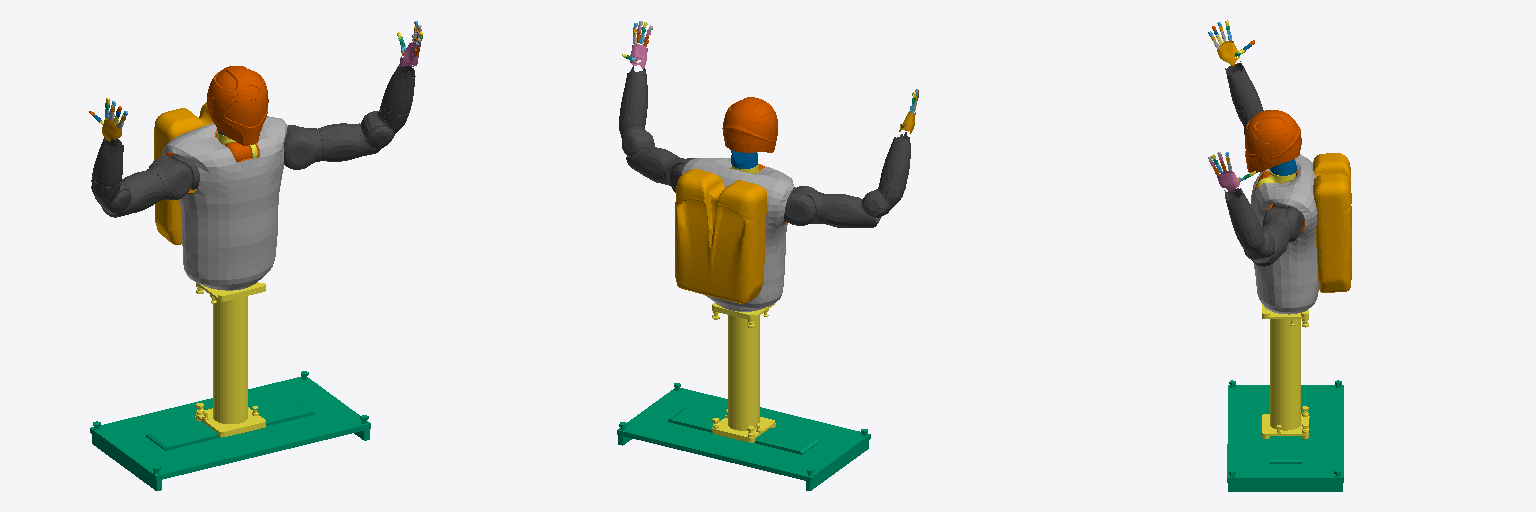
--- What the picture shows (computed from the rendered views, not written in the file) ---
Views: 3 orthographic renders of the robot side by side, from view 1: azimuth 30°, elevation 25°; view 2: azimuth 150°, elevation 25°; view 3: azimuth 270°, elevation 25°.
Robot: r2 — 91 links, 90 joints (54 revolute, 36 fixed); root link world; default pose: all joints at 0 but 4 set to mid-range because 0 is outside their limits (r2/left_arm/joint2 = -2.84, r2/left_arm/joint3 = -1.44, r2/right_arm/joint2 = 2.84, r2/right_arm/joint3 = -1.44).
Links seen in each view (by area): view 1: r2/baseplate, r2/body_cover, r2/stanchion, r2/neck_roll, r2/backpack, r2/left_upper_arm, r2/right_upper_arm, r2/left_lower_arm, r2/left_shoulder_pitch, r2/right_lower_arm, r2/right_shoulder_pitch, r2/left_elbow; view 2: r2/baseplate, r2/backpack, r2/stanchion, r2/body_cover, r2/neck_roll, r2/right_upper_arm, r2/left_lower_arm, r2/right_lower_arm, r2/left_upper_arm, r2/right_elbow, r2/right_shoulder_roll, r2/left_elbow; view 3: r2/baseplate, r2/body_cover, r2/backpack, r2/stanchion, r2/neck_roll, r2/right_lower_arm, r2/left_lower_arm, r2/left_upper_arm, r2/left_elbow.
Boxes of the visible links, x1,y1,x2,y2 form: r2/baseplate: (90,371,370,490); r2/body_cover: (162,116,287,290); r2/stanchion: (195,282,265,437); r2/neck_roll: (207,66,268,145); r2/backpack: (154,102,213,244); r2/left_upper_arm: (318,123,393,161); r2/right_upper_arm: (101,170,163,217); r2/left_lower_arm: (380,64,415,120); r2/left_shoulder_pitch: (284,127,321,169); r2/right_lower_arm: (91,137,123,192); r2/right_shoulder_pitch: (147,158,192,200); r2/left_elbow: (361,110,406,137); r2/baseplate: (617,383,870,490); r2/backpack: (675,169,766,303); r2/stanchion: (712,303,775,442); r2/body_cover: (682,158,793,311); r2/neck_roll: (722,97,777,152); r2/right_upper_arm: (820,194,880,227); r2/left_lower_arm: (619,67,647,123); r2/right_lower_arm: (879,132,910,189); r2/left_upper_arm: (626,145,677,184); r2/right_elbow: (862,184,904,217); r2/right_shoulder_roll: (783,187,816,225); r2/left_elbow: (619,120,654,155); r2/baseplate: (1227,380,1343,491); r2/body_cover: (1251,154,1318,314); r2/backpack: (1313,153,1351,292); r2/stanchion: (1262,304,1309,438); r2/neck_roll: (1245,110,1301,172); r2/right_lower_arm: (1225,61,1262,117); r2/left_lower_arm: (1224,188,1261,240); r2/left_upper_arm: (1244,221,1289,266); r2/left_elbow: (1239,230,1274,259).
Size in the robot's own frame: 1.55 by 0.695 by 1.91 metres.
Meshes: 28 distinct files referenced, 52 mesh visuals loaded (28 Collada DAE).

robot.urdf — r2:
<?xml version="1.0" ?>
<!-- =================================================================================== -->
<!-- |    This document was autogenerated by xacro from ../robots/r2.sim.urdf.xacro    | -->
<!-- |    EDITING THIS FILE BY HAND IS NOT RECOMMENDED                                 | -->
<!-- =================================================================================== -->
<robot name="r2" xmlns:controller="http://playerstage.sourceforge.net/gazebo/xmlschema/#controller" xmlns:interface="http://playerstage.sourceforge.net/gazebo/xmlschema/#interface" xmlns:sensor="http://playerstage.sourceforge.net/gazebo/xmlschema/#sensor" xmlns:xacro="http://playerstage.sourceforge.net/gazebo/xmlschema/#interface">
  <material name="white">
    <color rgba="1.0 1.0 1.0 1.0"/>
  </material>
  <material name="dirty_white">
    <color rgba="0.322 0.322 0.322 1.0"/>
  </material>
  <material name="gold">
    <color rgba=".878 .49 0.008 1"/>
  </material>
  <material name="steel">
    <color rgba=".7 .7 .7 1"/>
  </material>
  <material name="blue">
    <color rgba="0 0 0.8 1"/>
  </material>
  <link name="world"/>
  <joint name="r2/fixed/world/robot_world" type="fixed">
    <parent link="world"/>
    <child link="r2/robot_world"/>
    <origin rpy="0.0 0 0" xyz="0.0 0.0 0.0"/>
  </joint>
  <link name="r2/robot_world">
    <inertial>
      <mass value="1"/>
      <inertia ixx="1" ixy="0.0" ixz="0.0" iyy="1" iyz="0.0" izz="1"/>
    </inertial>
  </link>
  <joint name="r2/fixed/robot_world/baseplate" type="fixed">
    <parent link="r2/robot_world"/>
    <child link="r2/baseplate"/>
    <origin rpy="0.0 0 1.57" xyz="0.0 0.0 0.0"/>
  </joint>
  <link name="r2/baseplate">
    <visual>
      <geometry>
        <mesh filename="package://r2_description/meshes/Stanchion_Baseplate.dae"/>
      </geometry>
      <origin rpy="1.57 0 1.57" xyz="0.0 0.0 0.0"/>
    </visual>
    <collision>
      <geometry>
        <mesh filename="package://r2_description/meshes/Stanchion_Baseplate.dae" scale=".01 .01 .01"/>
      </geometry>
      <origin rpy="1.57 0 1.57" xyz="0.0 0.0 0.0"/>
    </collision>
    <inertial>
      <mass value="5"/>
      <inertia ixx="1" ixy="0.0" ixz="0.0" iyy="1" iyz="0.0" izz="1"/>
    </inertial>
  </link>
  <joint name="r2/fixed/baseplate/stanchion" type="fixed">
    <parent link="r2/baseplate"/>
    <child link="r2/stanchion"/>
    <origin rpy="0 0 3.14" xyz="0.0 0.0 .70"/>
  </joint>
  <link name="r2/stanchion">
    <visual>
      <geometry>
        <mesh filename="package://r2_description/meshes/Stanchion.dae"/>
      </geometry>
      <origin rpy="0 0 0" xyz="0.0 0.0 0.0"/>
    </visual>
    <collision>
      <geometry>
        <!--        <mesh filename="package://r2_description/meshes/Stanchion.dae"/> -->
        <cylinder length="0.5" radius=".075"/>
      </geometry>
      <origin rpy="0 0 0" xyz="0.0 0.0 -0.3"/>
    </collision>
    <inertial>
      <mass value="50"/>
      <inertia ixx="10" ixy="0.0" ixz="0.0" iyy="10" iyz="0.0" izz="10"/>
    </inertial>
  </link>
  <joint name="r2/fixed/stanchion/robot_base" type="fixed">
    <parent link="r2/stanchion"/>
    <child link="r2/robot_base"/>
    <origin rpy="0 3.14 3.14" xyz="0.0 0.0 0.02"/>
  </joint>
  <link name="r2/robot_base">
    <inertial>
      <mass value="0.01"/>
      <inertia ixx="0.0001" ixy="0.0" ixz="0.0" iyy="0.001" iyz="0.0" izz="0.001"/>
    </inertial>
  </link>
  <joint name="r2/waist/joint0" type="revolute">
    <parent link="r2/robot_base"/>
    <child link="r2/waist_center"/>
    <axis xyz="0 0 1"/>
    <origin rpy="0.0 0 0.0" xyz="0.0 0.0 0.0"/>
    <dynamics damping="20.0" friction="1.0"/>
    <limit effort="10000000.0" lower="-3.14" upper="3.14" velocity="1000"/>
  </joint>
  <link name="r2/waist_center">
    <visual>
      <geometry>
        <mesh filename="package://r2_description/meshes/Body.dae"/>
      </geometry>
      <origin rpy="-1.57 0 -1.57" xyz="0.01 0.05 -0.5625"/>
    </visual>
    <!-- <collision>
      <geometry>
         <mesh filename="package://r2_description/meshes/Body.dae"/>  
      </geometry>
      <origin rpy="-1.57 0 -1.57" xyz="0.00 0.05 -0.5625"/>
    </collision> -->
    <inertial>
      <mass value="10"/>
      <inertia ixx="1" ixy="0.0" ixz="0.0" iyy="1" iyz="0.0" izz="1"/>
    </inertial>
  </link>
  <joint name="r2/fixed/waist_center/robot_reference" type="fixed">
    <parent link="r2/waist_center"/>
    <child link="r2/robot_reference"/>
    <origin rpy="0.0 0 0.0" xyz="0.1234 0.0 0.0"/>
  </joint>
  <joint name="r2/fixed/waist_center/body_cover" type="fixed">
    <parent link="r2/waist_center"/>
    <child link="r2/body_cover"/>
    <origin rpy="0.0 0.0 0.0" xyz="0 0.0 0.0"/>
  </joint>
  <joint name="r2/fixed/waist_center/backpack" type="fixed">
    <parent link="r2/waist_center"/>
    <child link="r2/backpack"/>
    <origin rpy="0.0 0.0 0.0" xyz="0 0.0 0.0"/>
  </joint>
  <joint name="r2/fixed/waist_center/chest_center" type="fixed">
    <parent link="r2/waist_center"/>
    <child link="r2/chest_center"/>
    <origin rpy="0.0 0.0 0.0" xyz="-0.01235 0.0 0.0"/>
  </joint>
  <link name="r2/robot_reference">
    <inertial>
      <mass value="0.01"/>
      <inertia ixx="0.0001" ixy="0.0" ixz="0.0" iyy="0.001" iyz="0.0" izz="0.001"/>
    </inertial>
  </link>
  <link name="r2/body_cover">
    <visual>
      <geometry>
        <mesh filename="package://r2_description/meshes/Body_Cover.dae"/>
      </geometry>
      <!--       <origin rpy="-1.57 0 -1.57" xyz="0.02 0.05 -0.5625"/>
 -->
      <origin rpy="-1.57 0 -1.57" xyz="0.01 0.05 -0.5625"/>
    </visual>
    <collision>
      <geometry>
        <mesh filename="package://r2_description/meshes/Body_Cover.dae"/>
      </geometry>
      <origin rpy="-1.57 0 -1.57" xyz="0.01 0.05 -0.5625"/>
    </collision>
    <inertial>
      <mass value="0.1"/>
      <inertia ixx="0.001" ixy="0.0" ixz="0.0" iyy="0.001" iyz="0.0" izz="0.001"/>
    </inertial>
  </link>
  <link name="r2/backpack">
    <visual>
      <geometry>
        <mesh filename="package://r2_description/meshes/Backpack.dae"/>
      </geometry>
      <origin rpy="0 0 0.25" xyz="0.0 0.0 -0.54"/>
    </visual>
    <collision>
      <geometry>
        <mesh filename="package://r2_description/meshes/Backpack.dae"/>
      </geometry>
      <origin rpy="0 0 0.25" xyz="0.0 0.0 -0.54"/>
    </collision>
    <inertial>
      <mass value="10"/>
      <inertia ixx="1" ixy="0.0" ixz="0.0" iyy="1" iyz="0.0" izz="1"/>
    </inertial>
  </link>
  <link name="r2/chest_center">
    <inertial>
      <mass value="0.01"/>
      <inertia ixx="0.0001" ixy="0.0" ixz="0.0" iyy="0.001" iyz="0.0" izz="0.001"/>
    </inertial>
  </link>
  <joint name="r2/fixed/chest_center/chest_base" type="fixed">
    <parent link="r2/chest_center"/>
    <child link="r2/chest_base"/>
    <origin rpy="0.0 -0.0 0.0 " xyz="-0.05299202 -0.0 -0.5442458"/>
  </joint>
  <link name="r2/chest_base">
    <inertial>
      <mass value="0.01"/>
      <inertia ixx="0.0001" ixy="0.0" ixz="0.0" iyy="0.001" iyz="0.0" izz="0.001"/>
    </inertial>
  </link>
  <joint name="r2/neck/joint0" type="revolute">
    <parent link="r2/waist_center"/>
    <child link="r2/neck_base"/>
    <origin rpy=" -1.570796 -0.0 0.0 " xyz=" 0.08636 0.0 -0.6142228 "/>
    <dynamics damping="1.0" friction="0.0"/>
    <axis xyz="0 0 1"/>
    <limit effort="10000.0" lower="-0.7" upper="0.175" velocity="1000.0"/>
  </joint>
  <link name="r2/neck_base">
    <visual>
      <geometry>
        <mesh filename="package://r2_description/meshes/Neck_Lower.dae"/>
      </geometry>
      <origin rpy="-1.57 1.57 0" xyz="0.0 0.0 0.0"/>
    </visual>
    <inertial>
      <mass value=".1"/>
      <inertia ixx=".0010" ixy="0.0" ixz="0.0" iyy=".0010" iyz="0.0" izz=".0010"/>
    </inertial>
    <collision>
      <geometry>
        <mesh filename="package://r2_description/meshes/Neck_Lower.dae"/>
      </geometry>
      <origin rpy="-1.57 1.57 0" xyz="0.0 0.0 0.0"/>
    </collision>
  </link>
  <joint name="r2/neck/joint1" type="revolute">
    <parent link="r2/neck_base"/>
    <child link="r2/neck_lower_pitch"/>
    <origin rpy=" -1.570796 -0.0 0.0 " xyz=" -0.0762 -0.0 0.0 "/>
    <dynamics damping="1.0" friction="0.0"/>
    <axis xyz="0 0 1"/>
    <limit effort="10000.0" lower="-1.22" upper="1.22" velocity="1000.0"/>
  </joint>
  <link name="r2/neck_lower_pitch">
    <visual>
      <geometry>
        <mesh filename="package://r2_description/meshes/Neck_Upper.dae"/>
      </geometry>
      <origin rpy="0 0 1.57" xyz="0.075 0.0 0.0"/>
    </visual>
    <inertial>
      <mass value=".1"/>
      <inertia ixx=".0010" ixy="0.0" ixz="0.0" iyy=".0010" iyz="0.0" izz=".0010"/>
    </inertial>
    <collision>
      <geometry>
        <mesh filename="package://r2_description/meshes/Neck_Upper.dae"/>
      </geometry>
      <origin rpy="0 0 1.57" xyz="0.075 0.0 0.0"/>
    </collision>
  </link>
  <joint name="r2/neck/joint2" type="revolute">
    <parent link="r2/neck_lower_pitch"/>
    <child link="r2/neck_roll"/>
    <origin rpy=" 1.570796 -0.0 0.0 " xyz=" 0.0508 0.0 0.1777619 "/>
    <dynamics damping="1.0" friction="0.0"/>
    <axis xyz="0 0 1"/>
    <limit effort="10000.0" lower="-0.7" upper="0.175" velocity="1000.0"/>
  </joint>
  <link name="r2/neck_roll">
    <visual>
      <geometry>
        <mesh filename="package://r2_description/meshes/Head.dae"/>
      </geometry>
      <origin rpy="0 1.57 0" xyz="-0.0 0.07 0.0"/>
    </visual>
    <collision>
      <geometry>
        <mesh filename="package://r2_description/meshes/Head.dae"/>
      </geometry>
      <origin rpy="0 1.57 0" xyz="-0.0 0.07 0.0"/>
    </collision>
    <inertial>
      <mass value=".1"/>
      <inertia ixx=".0010" ixy="0.0" ixz="0.0" iyy=".0010" iyz="0.0" izz=".0010"/>
    </inertial>
  </link>
  <joint name="r2/fixed/neck_roll/neck_upper_pitch" type="fixed">
    <parent link="r2/neck_roll"/>
    <child link="r2/neck_upper_pitch"/>
    <origin rpy=" 1.570796 -0.0 0.0 " xyz=" 0.0 0.0 0.0 "/>
  </joint>
  <link name="r2/neck_upper_pitch">
    <inertial>
      <mass value=".1"/>
      <inertia ixx=".0010" ixy="0.0" ixz="0.0" iyy=".0010" iyz="0.0" izz=".0010"/>
    </inertial>
  </link>
  <joint name="r2/fixed/neck_upper_pitch/asus_frame" type="fixed">
    <parent link="r2/neck_upper_pitch"/>
    <child link="r2/asus_frame"/>
    <origin rpy="1.50 0.0 1.57 " xyz="0.12 -0.015 -0.14 "/>
    <!-- OK    <origin rpy="1.45 0 1.57 " xyz="0.11 -0.040 -0.15 "/>  -->
    <!-- ORIGINAL     <origin rpy="1.57 0 1.57 " xyz="0.066675 -0.0508 -0.116205 "/>  -->
  </joint>
  <joint name="r2/fixed/neck_upper_pitch/simulated_asus_frame" type="fixed">
    <parent link="r2/neck_upper_pitch"/>
    <child link="r2/simulated_asus_frame"/>
    <dynamics damping="1.0"/>
    <origin rpy="1.57 0 0" xyz="0.12 -0.015 -0.14 "/>
    <!--     <origin rpy="0 0 0" xyz="0.12 -0.015 -0.14 "/> -->
  </joint>
  <joint name="r2/fixed/neck_upper_pitch/vision_center_frame" type="fixed">
    <parent link="r2/neck_upper_pitch"/>
    <child link="r2/vision_center_frame"/>
    <dynamics damping="1.0"/>
    <origin rpy="1.57 -1.57 1.57" xyz=" 0.066675 0.0 -0.116205 "/>
  </joint>
  <link name="r2/asus_frame">
    <inertial>
      <mass value=".01"/>
      <inertia ixx=".0010" ixy="0.0" ixz="0.0" iyy=".0010" iyz="0.0" izz=".0010"/>
    </inertial>
  </link>
  <joint name="r2/fixed/asus_frame/openni_depth_frame" type="fixed">
    <parent link="r2/asus_frame"/>
    <child link="r2/openni_depth_frame"/>
    <origin rpy="1.57 -1.57 0 " xyz="0 0 0 "/>
  </joint>
  <link name="r2/openni_depth_frame">
    <inertial>
      <mass value=".01"/>
      <inertia ixx=".0010" ixy="0.0" ixz="0.0" iyy=".0010" iyz="0.0" izz=".0010"/>
    </inertial>
  </link>
  <link name="r2/simulated_asus_frame">
    <inertial>
      <mass value=".01"/>
      <inertia ixx=".0010" ixy="0.0" ixz="0.0" iyy=".0010" iyz="0.0" izz=".0010"/>
    </inertial>
  </link>
  <link name="r2/vision_center_frame">
    <inertial>
      <mass value=".1"/>
      <inertia ixx=".0010" ixy="0.0" ixz="0.0" iyy=".0010" iyz="0.0" izz=".0010"/>
    </inertial>
  </link>
  <joint name="r2/fixed/vision_center_frame/left_camera_frame" type="fixed">
    <parent link="r2/vision_center_frame"/>
    <child link="r2/left_camera_frame"/>
    <dynamics damping="1.0"/>
    <origin rpy="0 0 1.57" xyz="0.0087 0.04887 0.01789"/>
  </joint>
  <joint name="r2/fixed/vision_center_frame/right_camera_frame" type="fixed">
    <parent link="r2/vision_center_frame"/>
    <child link="r2/right_camera_frame"/>
    <dynamics damping="1.0"/>
    <origin rpy="0 0 1.57" xyz="0.0087 -0.04887 0.01789"/>
  </joint>
  <link name="r2/left_camera_frame">
    <inertial>
      <mass value=".1"/>
      <inertia ixx=".0010" ixy="0.0" ixz="0.0" iyy=".0010" iyz="0.0" izz=".0010"/>
    </inertial>
  </link>
  <joint name="r2/fixed/left_camera_frame/left_camera_optical_frame" type="fixed">
    <parent link="r2/left_camera_frame"/>
    <child link="r2/left_camera_optical_frame"/>
    <dynamics damping="1.0"/>
    <origin rpy="-1.57 -1.57 0" xyz="0 0 0"/>
  </joint>
  <link name="r2/left_camera_optical_frame">
    <inertial>
      <mass value=".1"/>
      <inertia ixx=".0010" ixy="0.0" ixz="0.0" iyy=".0010" iyz="0.0" izz=".0010"/>
    </inertial>
  </link>
  <link name="r2/right_camera_frame">
    <inertial>
      <mass value=".1"/>
      <inertia ixx=".0010" ixy="0.0" ixz="0.0" iyy=".0010" iyz="0.0" izz=".0010"/>
    </inertial>
  </link>
  <joint name="r2/fixed/right_camera_frame/right_camera_optical_frame" type="fixed">
    <parent link="r2/right_camera_frame"/>
    <child link="r2/right_camera_optical_frame"/>
    <dynamics damping="1.0"/>
    <origin rpy="-1.57 -1.57 0" xyz="0 0 0"/>
  </joint>
  <link name="r2/right_camera_optical_frame">
    <inertial>
      <mass value=".1"/>
      <inertia ixx=".0010" ixy="0.0" ixz="0.0" iyy=".0010" iyz="0.0" izz=".0010"/>
    </inertial>
  </link>
  <joint name="r2/left_arm/joint0" type="revolute">
    <parent link="r2/chest_base"/>
    <child link="r2/left_shoulder_roll"/>
    <origin rpy=" -1.5664 -0.0 -2.8802 " xyz=" -0.0 -0.0 0.0 "/>
    <axis xyz="0 0 1"/>
    <dynamics damping="10.0" friction="0.0"/>
    <limit effort="100.0" lower="-1.57" upper="1.57" velocity="1000"/>
  </joint>
  <link name="r2/left_shoulder_roll">
    <visual>
      <geometry>
        <mesh filename="package://r2_description/meshes/Left_Shoulder_Upper.dae"/>
      </geometry>
      <material name="dirty_white"/>
      <origin rpy="0 0 1.57" xyz="0 0 .08"/>
    </visual>
    <!-- <collision>
      <geometry>
        <mesh filename="package://r2_description/meshes/Left_Shoulder_Upper.dae" scale="0.7 0.7 0.7"/>
      </geometry>
      <origin rpy="0 0 1.57" xyz="0 0 .08"/>
    </collision> -->
    <inertial>
      <origin xyz="-0.0089916 -0.00131572   0.10287   "/>
      <mass value="6.168856232"/>
      <inertia ixx="0.0198585269" ixy="-0.0060195977" ixz="-0.0003950635" iyy="0.0671900643" iyz="0.00012683" izz="0.0634150128"/>
    </inertial>
  </link>
  <joint name="r2/left_arm/joint1" type="revolute">
    <parent link="r2/left_shoulder_roll"/>
    <child link="r2/left_shoulder_pitch"/>
    <origin rpy=" -1.5701 -0.0 1.570796 " xyz=" 0.0 0.0 0.316611 "/>
    <axis xyz="0 0 1"/>
    <dynamics damping="10.0" friction="0.0"/>
    <limit effort="100.0" lower="-1.66" upper=".175" velocity="1000"/>
  </joint>
  <link name="r2/left_shoulder_pitch">
    <visual>
      <geometry>
        <mesh filename="package://r2_description/meshes/Left_Shoulder_Lower.dae"/>
      </geometry>
      <material name="dirty_white"/>
      <origin rpy=".0 0 -1.57" xyz="0 0 0"/>
    </visual>
    <!-- <collision>
      <geometry>
        <mesh filename="package://r2_description/meshes/Left_Shoulder_Lower.dae"/>
      </geometry>
      <origin rpy=".0 0 -1.57" xyz="0 0 0"/>
    </collision> -->
    <inertial>
      <origin xyz="0.037084 -0.00028448   0.0077978   "/>
      <mass value="4.4270615312"/>
      <inertia ixx="0.02701064" ixy="0.001512947" ixz="-0.000052382497887" iyy="0.0113836825" iyz="0.0000217138622526" izz="0.0251962741"/>
    </inertial>
  </link>
  <joint name="r2/left_arm/joint2" type="revolute">
    <parent link="r2/left_shoulder_pitch"/>
    <child link="r2/left_upper_arm"/>
    <origin rpy=" 1.57 -0.0 0.0 " xyz=" 0.0 0.0 0.0 "/>
    <axis xyz="0 0 1"/>
    <dynamics damping="10.0" friction="0.0"/>
    <limit effort="100.0" lower="-4.89" upper="-0.79" velocity="1000"/>
  </joint>
  <link name="r2/left_upper_arm">
    <visual>
      <geometry>
        <mesh filename="package://r2_description/meshes/Left_Upper_Arm.dae"/>
      </geometry>
      <material name="dirty_white"/>
      <origin rpy="0 0 3.14" xyz="0 0 .1016"/>
    </visual>
    <collision>
      <geometry>
        <mesh filename="package://r2_description/meshes/Left_Upper_Arm.dae" scale="0.8 0.8 0.8"/>
      </geometry>
      <origin rpy="0 0 3.14" xyz="0 0 .1016"/>
    </collision>
    <inertial>
      <origin xyz="-0.0074168 -0.041402   0.1016   "/>
      <mass value="4.853438359"/>
      <inertia ixx="0.016007389" ixy="-0.00339462" ixz="0.0065843922" iyy="0.0462370652" iyz="0.0013754064" izz="0.04214011"/>
    </inertial>
  </link>
  <joint name="r2/left_arm/joint3" type="revolute">
    <parent link="r2/left_upper_arm"/>
    <child link="r2/left_elbow"/>
    <origin rpy=" -1.5748 -0.0 0.0 " xyz=" -0.05437886 -0.0 0.3564382 "/>
    <axis xyz="0 0 1"/>
    <dynamics damping="1.0" friction="0.0"/>
    <limit effort="100.0" lower="-2.79" upper="-.087" velocity="1000"/>
  </joint>
  <link name="r2/left_elbow">
    <visual>
      <geometry>
        <mesh filename="package://r2_description/meshes/Left_Elbow.dae"/>
      </geometry>
      <material name="dirty_white"/>
      <origin rpy="0 0 -1.57" xyz="0 0 0"/>
    </visual>
    <collision>
      <geometry>
        <mesh filename="package://r2_description/meshes/Left_Elbow.dae"/>
      </geometry>
      <origin rpy="0 0 -1.57" xyz="0 0 0"/>
    </collision>
    <inertial>
      <origin xyz="0.026162 0.033782   0.0154432   "/>
      <mass value="2.9710300235"/>
      <inertia ixx="0.0120274897" ixy="0.0016417085" ixz="-0.001188117" iyy="0.0088377175" iyz="0.0031605083" izz="0.0105350275"/>
    </inertial>
  </link>
  <joint name="r2/left_arm/joint4" type="revolute">
    <parent link="r2/left_elbow"/>
    <child link="r2/left_lower_arm"/>
    <origin rpy=" 1.5738 -0.0 0.0 " xyz=" 0.0540385 0.0 0.0 "/>
    <axis xyz="0 0 1"/>
    <dynamics damping="1.0" friction="0.0"/>
    <limit effort="100.0" lower="-1.3" upper="4.45" velocity="1000"/>
  </joint>
  <link name="r2/left_lower_arm">
    <visual>
      <geometry>
        <mesh filename="package://r2_description/meshes/Left_Forearm.dae"/>
      </geometry>
      <origin xyz="0 0 0.1"/>
      <material name="dirty_white"/>
    </visual>
    <collision>
      <geometry>
        <mesh filename="package://r2_description/meshes/Left_Forearm.dae"/>
      </geometry>
      <origin xyz="0 0 0.1"/>
    </collision>
    <inertial>
      <origin xyz="0.0003556 -0.00122682   0.17653   "/>
      <mass value="6.939963261"/>
      <inertia ixx="0.0125249771" ixy="-0.0002446467" ixz="0.0005208986" iyy="0.0395063532" iyz="-0.0001691457" izz="0.0403842721"/>
    </inertial>
  </link>
  <joint name="r2/left_arm/joint5" type="revolute">
    <parent link="r2/left_lower_arm"/>
    <child link="r2/left_wrist_pitch"/>
    <origin rpy=" -1.5952 -0.0 0.0 " xyz=" 0.0 0.0 0.3570478 "/>
    <axis xyz="0 0 1"/>
    <dynamics damping="1.0" friction="0.0"/>
    <limit effort="100.0" lower="-1.22" upper="1.22" velocity="1000"/>
  </joint>
  <link name="r2/left_wrist_pitch">
    <inertial>
      <origin xyz="-0.004064   0.000000152908   -0.00092202"/>
      <mass value="0.1165732391"/>
      <inertia ixx="0.1" ixy="0.0" ixz="0.0" iyy="0.1" iyz="0.0" izz="0.1"/>
    </inertial>
  </link>
  <joint name="r2/left_arm/joint6" type="revolute">
    <parent link="r2/left_wrist_pitch"/>
    <child link="r2/left_wrist_yaw"/>
    <origin rpy=" 1.6505 -0.0 -1.5727 " xyz=" -0.00001156 -0.006072621 0.0 "/>
    <axis xyz="0 0 1"/>
    <dynamics damping="1.0" friction="0.0"/>
    <limit effort="100.0" lower="-0.785" upper="0.785" velocity="1000"/>
  </joint>
  <link name="r2/left_wrist_yaw">
    <inertial>
      <origin xyz="-0.00090932   -0.0253746  0.067564     "/>
      <mass value="0.1"/>
      <inertia ixx="0.1" ixy="0.0" ixz="0.0" iyy="0.1" iyz="0.0" izz="0.1"/>
    </inertial>
  </link>
  <joint name="r2/fixed/left_wrist_yaw/left_palm" type="fixed">
    <parent link="r2/left_wrist_yaw"/>
    <child link="r2/left_palm"/>
    <origin rpy=" 0.0 -0.0 -0.014 " xyz=" 0.0 -0.0 0.0 "/>
  </joint>
  <link name="r2/left_palm">
    <visual>
      <geometry>
        <mesh filename="package://r2_description/meshes/Left_Palm.dae"/>
      </geometry>
      <origin rpy="3.14 0 1.57" xyz="0.0 0.0 -0.0"/>
    </visual>
    <collision>
      <geometry>
        <mesh filename="package://r2_description/meshes/Left_Palm.dae"/>
      </geometry>
      <origin rpy="3.14 0 1.57" xyz="0.0 0.0 -0.0"/>
    </collision>
    <inertial>
      <origin xyz="0.067564   -0.0253746   -0.00090932"/>
      <mass value="1.1"/>
      <inertia ixx="0.1" ixy="0.0" ixz="0.0" iyy="0.1" iyz="0.0" izz="0.1"/>
    </inertial>
  </link>
  <joint name="r2/left_arm/hand/thumb/joint0" type="revolute">
    <parent link="r2/left_wrist_yaw"/>
    <child link="r2/left_thumb_base"/>
    <origin rpy=" -1.57079632679 -0.0 1.30899702752 " xyz=" 0.03302 0.03048 0.00635 "/>
    <axis xyz="0 0 1"/>
    <limit effort="10000000.0" lower="-1.2217" upper="0.0" velocity="1000"/>
    <dynamics damping="0.1" friction="0.0"/>
  </joint>
  <joint name="r2/fixed/left_index_base/left_index_base" type="fixed">
    <parent link="r2/left_wrist_yaw"/>
    <child link="r2/left_index_base"/>
    <origin rpy=" 0.0 -0.0 0.122172725275 " xyz=" 0.0994646728 0.0271119346 -0.0161544 "/>
  </joint>
  <joint name="r2/left_arm/hand/index/joint0" type="revolute">
    <parent link="r2/left_index_base"/>
    <child link="r2/left_index_yaw"/>
    <origin rpy="0.0 0.0 0.0" xyz="0.0 0.0 0.0"/>
    <axis xyz="0 0 1"/>
    <limit effort="10000000.0" lower="-0.3491" upper="0.3491" velocity="1000"/>
    <dynamics damping="0.1" friction="0.0"/>
  </joint>
  <joint name="r2/fixed/left_middle_base/left_middle_base" type="fixed">
    <parent link="r2/left_wrist_yaw"/>
    <child link="r2/left_middle_base"/>
    <origin rpy=" 0.0 -0.0 0.0 " xyz=" 0.10646537 0.00254 -0.0161544 "/>
  </joint>
  <joint name="r2/left_arm/hand/middle/joint0" type="revolute">
    <parent link="r2/left_middle_base"/>
    <child link="r2/left_middle_yaw"/>
    <origin rpy="0.0 0.0 0.0" xyz="0.0 0.0 0.0"/>
    <axis xyz="0 0 1"/>
    <limit effort="10000000.0" lower="-0.3491" upper="0.3491" velocity="1000"/>
    <dynamics damping="0.1" friction="0.0"/>
  </joint>
  <joint name="r2/left_arm/hand/ring/joint0" type="revolute">
    <parent link="r2/left_wrist_yaw"/>
    <child link="r2/left_ring_proximal"/>
    <origin rpy=" 1.57079632679 -0.0 -0.122172725275 " xyz=" 0.1084570602 -0.0197673468 -0.012319 "/>
    <axis xyz="0 0 1"/>
    <limit effort="10000000.0" lower="0" upper="2.9671" velocity="1000"/>
    <dynamics damping="0.1" friction="0.0"/>
  </joint>
  <joint name="r2/left_arm/hand/little/joint0" type="revolute">
    <parent link="r2/left_wrist_yaw"/>
    <child link="r2/left_little_proximal"/>
    <origin rpy=" 1.60570321374 -0.0872667473393 -0.17453258148 " xyz=" 0.094635701 -0.0403792436 -0.0060878212 "/>
    <axis xyz="0 0 1"/>
    <limit effort="10000000.0" lower="0" upper="2.9671" velocity="1000"/>
    <dynamics damping="0.1" friction="0.0"/>
  </joint>
  <link name="r2/left_thumb_base">
    <inertial>
      <mass value=".05"/>
      <inertia ixx=".0010" ixy="0.0" ixz="0.0" iyy=".0010" iyz="0.0" izz=".0010"/>
    </inertial>
  </link>
  <joint name="r2/fixed/left_thumb_base/left_thumb_proximal" type="fixed">
    <parent link="r2/left_thumb_base"/>
    <child link="r2/left_thumb_proximal"/>
    <origin rpy=" -1.570796 -0.0 0.0 " xyz=" 0.011938 0.0 0.0 "/>
  </joint>
  <link name="r2/left_thumb_proximal">
    <inertial>
      <mass value=".0010"/>
      <inertia ixx=".0010" ixy="0.0" ixz="0.0" iyy=".0010" iyz="0.0" izz=".0010"/>
    </inertial>
    <visual>
      <geometry>
        <mesh filename="package://r2_description/meshes/Left_Thumb_Carp.dae"/>
      </geometry>
      <origin rpy="-1.57 0 0" xyz="-0.01 0.0 0.0"/>
    </visual>
    <collision>
      <geometry>
        <mesh filename="package://r2_description/meshes/Left_Thumb_Carp.dae"/>
      </geometry>
      <origin rpy="-1.57 0 0" xyz="-0.01 0.0 0.0"/>
    </collision>
  </link>
  <joint name="r2/left_arm/hand/thumb/joint1" type="revolute">
    <parent link="r2/left_thumb_proximal"/>
    <child link="r2/left_thumb_medial_prime"/>
    <origin rpy=" 0.0 -0.0 0.0 " xyz=" 0.0 0.0 0.0 "/>
    <axis xyz="0 0 1"/>
    <limit effort="10000000.0" lower="0.0" upper="1.3963" velocity="1000"/>
    <dynamics damping="0.1" friction="0.0"/>
  </joint>
  <link name="r2/left_thumb_medial_prime">
    <inertial>
      <mass value=".0010"/>
      <inertia ixx=".0010" ixy="0.0" ixz="0.0" iyy=".0010" iyz="0.0" izz=".0010"/>
    </inertial>
    <visual>
      <geometry>
        <mesh filename="package://r2_description/meshes/Left_Thumb_MtCar.dae"/>
      </geometry>
      <origin rpy="-1.57 -1.57 0" xyz="-0.0 0 0.0"/>
    </visual>
    <collision>
      <geometry>
        <mesh filename="package://r2_description/meshes/Left_Thumb_MtCar.dae"/>
      </geometry>
      <origin rpy="-1.57 -1.57 0" xyz="0.0 0.0 0.0"/>
    </collision>
  </link>
  <joint name="r2/left_arm/hand/thumb/joint2" type="revolute">
    <parent link="r2/left_thumb_medial_prime"/>
    <child link="r2/left_thumb_medial"/>
    <origin rpy=" -0.698132284627 -0.0 0.0 " xyz=" 0.030734 -0.001905 0.00254 "/>
    <axis xyz="0 0 1"/>
    <limit effort="10000000.0" lower="0.0" upper="1.2217" velocity="1000"/>
    <dynamics damping="0.1" friction="0.0"/>
  </joint>
  <link name="r2/left_thumb_medial">
    <inertial>
      <mass value=".0010"/>
      <inertia ixx=".0010" ixy="0.0" ixz="0.0" iyy=".0010" iyz="0.0" izz=".0010"/>
    </inertial>
    <visual>
      <geometry>
        <mesh filename="package://r2_description/meshes/Thumb_Proximal.dae"/>
      </geometry>
      <origin rpy="3.14 0 1.57" xyz="0.0 0.0 0.0"/>
    </visual>
    <collision>
      <geometry>
        <mesh filename="package://r2_description/meshes/Thumb_Proximal.dae"/>
      </geometry>
      <origin rpy="3.14 0 1.57" xyz="0.0 0.0 0.0"/>
    </collision>
  </link>
  <joint name="r2/left_arm/hand/thumb/joint3" type="revolute">
    <parent link="r2/left_thumb_medial"/>
    <child link="r2/left_thumb_distal"/>
    <origin rpy=" 0.0 -0.0 0.0 " xyz=" 0.03937 0.0 0.0 "/>
    <axis xyz="0 0 1"/>
    <limit effort="10000000.0" lower="-0.5236" upper="1.57" velocity="1000"/>
    <dynamics damping="0.1" friction="0.0"/>
  </joint>
  <link name="r2/left_thumb_distal">
    <inertial>
      <mass value=".0010"/>
      <inertia ixx=".0010" ixy="0.0" ixz="0.0" iyy=".0010" iyz="0.0" izz=".0010"/>
    </inertial>
    <visual>
      <geometry>
        <mesh filename="package://r2_description/meshes/Thumb_Dist.dae"/>
      </geometry>
      <origin rpy="3.14 3.14 0" xyz="0.0 0.0 0.0"/>
    </visual>
    <collision>
      <geometry>
        <mesh filename="package://r2_description/meshes/Thumb_Dist.dae"/>
      </geometry>
      <origin rpy="3.14 3.14 0" xyz="0.0 0.0 0.0"/>
    </collision>
  </link>
  <joint name="r2/fixed/left_thumb_distal/left_thumb_tip" type="fixed">
    <parent link="r2/left_thumb_distal"/>
    <child link="r2/left_thumb_tip"/>
    <origin rpy=" 0.0 -0.0 0.0 " xyz=" 0.03302 0.0 0.0 "/>
  </joint>
  <link name="r2/left_thumb_tip">
    <inertial>
      <mass value=".0010"/>
      <inertia ixx=".0010" ixy="0.0" ixz="0.0" iyy=".0010" iyz="0.0" izz=".0010"/>
    </inertial>
  </link>
  <link name="r2/left_index_base">
    <inertial>
      <mass value=".0010"/>
      <inertia ixx=".0010" ixy="0.0" ixz="0.0" iyy=".0010" iyz="0.0" izz=".0010"/>
    </inertial>
  </link>
  <link name="r2/left_index_yaw">
    <inertial>
      <mass value=".0010"/>
      <inertia ixx=".0010" ixy="0.0" ixz="0.0" iyy=".0010" iyz="0.0" izz=".0010"/>
    </inertial>
  </link>
  <joint name="r2/left_arm/hand/index/joint1" type="revolute">
    <parent link="r2/left_index_yaw"/>
    <child link="r2/left_index_proximal"/>
    <origin rpy=" 1.570796 0.0 0.0 " xyz=" 0.009652 0.0 0.0 "/>
    <axis xyz="0 0 1"/>
    <limit effort="10000000.0" lower="0.0" upper="1.57" velocity="1000"/>
    <dynamics damping="0.1" friction="0.0"/>
  </joint>
  <link name="r2/left_index_proximal">
    <inertial>
      <mass value=".0010"/>
      <inertia ixx=".0010" ixy="0.0" ixz="0.0" iyy=".0010" iyz="0.0" izz=".0010"/>
    </inertial>
    <visual>
      <geometry>
        <mesh filename="package://r2_description/meshes/Finger_Proximal.dae"/>
      </geometry>
      <origin rpy="0 0 1.57" xyz="0.0 0.0 0.0"/>
    </visual>
    <collision>
      <geometry>
        <mesh filename="package://r2_description/meshes/Finger_Proximal.dae"/>
      </geometry>
      <origin rpy="0 0 1.57" xyz="0.0 0.0 0.0"/>
    </collision>
  </link>
  <joint name="r2/left_arm/hand/index/joint2" type="revolute">
    <parent link="r2/left_index_proximal"/>
    <child link="r2/left_index_medial"/>
    <origin rpy=" 0.0 -0.0 0.0 " xyz=" 0.04445 0.0 0.0 "/>
    <axis xyz="0 0 1"/>
    <limit effort="10000000.0" lower="0.0" upper="1.57" velocity="1000"/>
    <dynamics damping="0.1" friction="0.0"/>
  </joint>
  <link name="r2/left_index_medial">
    <inertial>
      <mass value=".0010"/>
      <inertia ixx=".0010" ixy="0.0" ixz="0.0" iyy=".0010" iyz="0.0" izz=".0010"/>
    </inertial>
    <visual>
      <geometry>
        <mesh filename="package://r2_description/meshes/Finger_Mid.dae"/>
      </geometry>
      <origin rpy="3.14 0 1.57" xyz="0.0 0.0 0.0"/>
    </visual>
    <collision>
      <geometry>
        <mesh filename="package://r2_description/meshes/Finger_Mid.dae"/>
      </geometry>
      <origin rpy="3.14 0 1.57" xyz="0.0 0.0 0.0"/>
    </collision>
  </link>
  <joint name="r2/left_arm/hand/index/joint3" type="revolute">
    <parent link="r2/left_index_medial"/>
    <child link="r2/left_index_distal"/>
    <origin rpy=" 0.0 -0.0 0.0 " xyz=" 0.03048 0.0 0.0 "/>
    <axis xyz="0 0 1"/>
    <limit effort="10000000.0" lower="0.0" upper="1.57" velocity="1000"/>
    <dynamics damping="0.1" friction="0.0"/>
  </joint>
  <link name="r2/left_index_distal">
    <inertial>
      <mass value=".0010"/>
      <inertia ixx=".0010" ixy="0.0" ixz="0.0" iyy=".0010" iyz="0.0" izz=".0010"/>
    </inertial>
    <visual>
      <geometry>
        <mesh filename="package://r2_description/meshes/Finger_Dist.dae"/>
      </geometry>
      <origin rpy="0 -1.57 0" xyz="0.0 0.0 0.0"/>
    </visual>
    <collision>
      <geometry>
        <mesh filename="package://r2_description/meshes/Finger_Dist.dae"/>
      </geometry>
      <origin rpy="0 -1.57 0" xyz="0.0 0.0 0.0"/>
    </collision>
  </link>
  <joint name="r2/fixed/left_index_distal/left_index_tip" type="fixed">
    <parent link="r2/left_index_distal"/>
    <child link="r2/left_index_tip"/>
    <origin rpy=" 0.0 -0.0 0.0 " xyz=" 0.024638 0.0 0.0 "/>
  </joint>
  <link name="r2/left_index_tip">
    <inertial>
      <mass value=".0010"/>
      <inertia ixx=".0010" ixy="0.0" ixz="0.0" iyy=".0010" iyz="0.0" izz=".0010"/>
    </inertial>
  </link>
  <link name="r2/left_middle_base">
    <inertial>
      <mass value=".0010"/>
      <inertia ixx=".0010" ixy="0.0" ixz="0.0" iyy=".0010" iyz="0.0" izz=".0010"/>
    </inertial>
  </link>
  <link name="r2/left_middle_yaw">
    <inertial>
      <mass value=".0010"/>
      <inertia ixx=".0010" ixy="0.0" ixz="0.0" iyy=".0010" iyz="0.0" izz=".0010"/>
    </inertial>
  </link>
  <joint name="r2/left_arm/hand/middle/joint1" type="revolute">
    <parent link="r2/left_middle_yaw"/>
    <child link="r2/left_middle_proximal"/>
    <origin rpy=" 1.570796 -0.0 0.0 " xyz=" 0.009652 0.0 0.0 "/>
    <axis xyz="0 0 1"/>
    <limit effort="10000000.0" lower="0.0" upper="1.57" velocity="1000"/>
    <dynamics damping="0.1" friction="0.0"/>
  </joint>
  <link name="r2/left_middle_proximal">
    <inertial>
      <mass value=".0010"/>
      <inertia ixx=".0010" ixy="0.0" ixz="0.0" iyy=".0010" iyz="0.0" izz=".0010"/>
    </inertial>
    <visual>
      <geometry>
        <mesh filename="package://r2_description/meshes/Finger_Proximal.dae"/>
      </geometry>
      <origin rpy="0 0 1.57" xyz="0.0 0.0 0.0"/>
    </visual>
    <collision>
      <geometry>
        <mesh filename="package://r2_description/meshes/Finger_Proximal.dae"/>
      </geometry>
      <origin rpy="0 0 1.57" xyz="0.0 0.0 0.0"/>
    </collision>
  </link>
  <joint name="r2/left_arm/hand/middle/joint2" type="revolute">
    <parent link="r2/left_middle_proximal"/>
    <child link="r2/left_middle_medial"/>
    <origin rpy=" 0.0 -0.0 0.0 " xyz=" 0.04445 0.0 0.0 "/>
    <axis xyz="0 0 1"/>
    <limit effort="10000000.0" lower="0.0" upper="1.57" velocity="1000"/>
    <dynamics damping="0.1" friction="0.0"/>
  </joint>
  <link name="r2/left_middle_medial">
    <inertial>
      <mass value=".0010"/>
      <inertia ixx=".0010" ixy="0.0" ixz="0.0" iyy=".0010" iyz="0.0" izz=".0010"/>
    </inertial>
    <visual>
      <geometry>
        <mesh filename="package://r2_description/meshes/Finger_Mid.dae"/>
      </geometry>
      <origin rpy="3.14 0 1.57" xyz="0.0 0.0 0.0"/>
    </visual>
    <collision>
      <geometry>
        <mesh filename="package://r2_description/meshes/Finger_Mid.dae"/>
      </geometry>
      <origin rpy="3.14 0 1.57" xyz="0.0 0.0 0.0"/>
    </collision>
  </link>
  <joint name="r2/left_arm/hand/middle/joint3" type="revolute">
    <parent link="r2/left_middle_medial"/>
    <child link="r2/left_middle_distal"/>
    <origin rpy=" 0.0 -0.0 0.0 " xyz=" 0.03048 0.0 0.0 "/>
    <axis xyz="0 0 1"/>
    <limit effort="10000000.0" lower="0.0" upper="1.57" velocity="1000"/>
    <dynamics damping="0.1" friction="0.0"/>
  </joint>
  <link name="r2/left_middle_distal">
    <inertial>
      <mass value=".0010"/>
      <inertia ixx=".0010" ixy="0.0" ixz="0.0" iyy=".0010" iyz="0.0" izz=".0010"/>
    </inertial>
    <visual>
      <geometry>
        <mesh filename="package://r2_description/meshes/Finger_Dist.dae"/>
      </geometry>
      <origin rpy="0 -1.57 0" xyz="0.0 0.0 0.0"/>
    </visual>
    <collision>
      <geometry>
        <mesh filename="package://r2_description/meshes/Finger_Dist.dae"/>
      </geometry>
      <origin rpy="0 -1.57 0" xyz="0.0 0.0 0.0"/>
    </collision>
  </link>
  <joint name="r2/fixed/left_middle_distal/left_middle_tip" type="fixed">
    <parent link="r2/left_middle_distal"/>
    <child link="r2/left_middle_tip"/>
    <origin rpy=" 0.0 -0.0 0.0 " xyz=" 0.024638 0.0 0.0 "/>
  </joint>
  <link name="r2/left_middle_tip">
    <inertial>
      <mass value=".0010"/>
      <inertia ixx=".0010" ixy="0.0" ixz="0.0" iyy=".0010" iyz="0.0" izz=".0010"/>
    </inertial>
  </link>
  <link name="r2/left_ring_proximal">
    <inertial>
      <mass value=".0010"/>
      <inertia ixx=".0010" ixy="0.0" ixz="0.0" iyy=".0010" iyz="0.0" izz=".0010"/>
    </inertial>
    <visual>
      <geometry>
        <mesh filename="package://r2_description/meshes/Finger_Proximal.dae"/>
      </geometry>
      <origin rpy="0 0 1.57" xyz="0.0 0.0 0.0"/>
    </visual>
    <collision>
      <geometry>
        <mesh filename="package://r2_description/meshes/Finger_Proximal.dae"/>
      </geometry>
      <origin rpy="0 0 1.57" xyz="0.0 0.0 0.0"/>
    </collision>
  </link>
  <joint name="r2/left_arm/hand/ring/joint1" type="revolute">
    <parent link="r2/left_ring_proximal"/>
    <child link="r2/left_ring_medial"/>
    <origin rpy=" 0.0 -0.0 0.0 " xyz=" 0.04445 0.0 0.0 "/>
    <axis xyz="0 0 1"/>
    <limit effort="10000000.0" lower="0" upper="2.9671" velocity="1000"/>
    <dynamics damping="0.1" friction="0.0"/>
  </joint>
  <link name="r2/left_ring_medial">
    <inertial>
      <mass value=".0010"/>
      <inertia ixx=".0010" ixy="0.0" ixz="0.0" iyy=".0010" iyz="0.0" izz=".0010"/>
    </inertial>
    <visual>
      <geometry>
        <mesh filename="package://r2_description/meshes/Finger_Mid.dae"/>
      </geometry>
      <origin rpy="3.14 0 1.57" xyz="0.0 0.0 0.0"/>
    </visual>
    <collision>
      <geometry>
        <mesh filename="package://r2_description/meshes/Finger_Mid.dae"/>
      </geometry>
      <origin rpy="3.14 0 1.57" xyz="0.0 0.0 0.0"/>
    </collision>
  </link>
  <joint name="r2/left_arm/hand/ring/joint2" type="revolute">
    <parent link="r2/left_ring_medial"/>
    <child link="r2/left_ring_distal"/>
    <origin rpy=" 0.0 -0.0 0.0 " xyz=" 0.03048 0.0 0.0 "/>
    <axis xyz="0 0 1"/>
    <limit effort="10000000.0" lower="0" upper="2.9671" velocity="1000"/>
    <dynamics damping="0.1" friction="0.0"/>
  </joint>
  <link name="r2/left_ring_distal">
    <inertial>
      <mass value=".0010"/>
      <inertia ixx=".0010" ixy="0.0" ixz="0.0" iyy=".0010" iyz="0.0" izz=".0010"/>
    </inertial>
    <visual>
      <geometry>
        <mesh filename="package://r2_description/meshes/Finger_Dist.dae"/>
      </geometry>
      <origin rpy="0 -1.57 0" xyz="0.0 0.0 0.0"/>
    </visual>
    <collision>
      <geometry>
        <mesh filename="package://r2_description/meshes/Finger_Dist.dae"/>
      </geometry>
      <origin rpy="0 -1.57 0" xyz="0.0 0.0 0.0"/>
    </collision>
  </link>
  <joint name="r2/fixed/left_ring_distal/left_ring_tip" type="fixed">
    <parent link="r2/left_ring_distal"/>
    <child link="r2/left_ring_tip"/>
    <origin rpy=" 0.0 -0.0 0.0 " xyz=" 0.024638 0.0 0.0 "/>
  </joint>
  <link name="r2/left_ring_tip">
    <inertial>
      <mass value=".0010"/>
      <inertia ixx=".0010" ixy="0.0" ixz="0.0" iyy=".0010" iyz="0.0" izz=".0010"/>
    </inertial>
  </link>
  <link name="r2/left_little_proximal">
    <inertial>
      <mass value=".0010"/>
      <inertia ixx=".0010" ixy="0.0" ixz="0.0" iyy=".0010" iyz="0.0" izz=".0010"/>
    </inertial>
    <visual>
      <geometry>
        <mesh filename="package://r2_description/meshes/Finger_Proximal.dae"/>
      </geometry>
      <origin rpy="0 0 1.57" xyz="0.0 0.0 0.0"/>
    </visual>
    <collision>
      <geometry>
        <mesh filename="package://r2_description/meshes/Finger_Proximal.dae"/>
      </geometry>
      <origin rpy="0 0 1.57" xyz="0.0 0.0 0.0"/>
    </collision>
  </link>
  <joint name="r2/left_arm/hand/little/joint1" type="revolute">
    <parent link="r2/left_little_proximal"/>
    <child link="r2/left_little_medial"/>
    <origin rpy=" 0.0 -0.0 0.0 " xyz=" 0.04445 0.0 0.0 "/>
    <axis xyz="0 0 1"/>
    <limit effort="10000000.0" lower="0" upper="2.9671" velocity="1000"/>
    <dynamics damping="0.1" friction="0.0"/>
  </joint>
  <link name="r2/left_little_medial">
    <inertial>
      <mass value=".0010"/>
      <inertia ixx=".0010" ixy="0.0" ixz="0.0" iyy=".0010" iyz="0.0" izz=".0010"/>
    </inertial>
    <visual>
      <geometry>
        <mesh filename="package://r2_description/meshes/Finger_Mid.dae"/>
      </geometry>
      <origin rpy="3.14 0 1.57" xyz="0.0 0.0 0.0"/>
    </visual>
    <collision>
      <geometry>
        <mesh filename="package://r2_description/meshes/Finger_Mid.dae"/>
      </geometry>
      <origin rpy="3.14 0 1.57" xyz="0.0 0.0 0.0"/>
    </collision>
  </link>
  <joint name="r2/left_arm/hand/little/joint2" type="revolute">
    <parent link="r2/left_little_medial"/>
    <child link="r2/left_little_distal"/>
    <origin rpy=" 0.0 -0.0 0.0 " xyz=" 0.03048 0.0 0.0 "/>
    <axis xyz="0 0 1"/>
    <limit effort="10000000.0" lower="0" upper="2.9671" velocity="1000"/>
    <dynamics damping="0.1" friction="0.0"/>
  </joint>
  <link name="r2/left_little_distal">
    <inertial>
      <mass value=".0010"/>
      <inertia ixx=".0010" ixy="0.0" ixz="0.0" iyy=".0010" iyz="0.0" izz=".0010"/>
    </inertial>
    <visual>
      <geometry>
        <mesh filename="package://r2_description/meshes/Finger_Dist.dae"/>
      </geometry>
      <origin rpy="0 -1.57 0" xyz="0.0 0.0 0.0"/>
    </visual>
    <collision>
      <geometry>
        <mesh filename="package://r2_description/meshes/Finger_Dist.dae"/>
      </geometry>
      <origin rpy="0 -1.57 0" xyz="0.0 0.0 0.0"/>
    </collision>
  </link>
  <joint name="r2/fixed/left_little_distal/left_little_tip" type="fixed">
    <parent link="r2/left_little_distal"/>
    <child link="r2/left_little_tip"/>
    <origin rpy=" 0.0 -0.0 0.0 " xyz=" 0.024638 0.0 0.0 "/>
  </joint>
  <link name="r2/left_little_tip">
    <inertial>
      <mass value=".0010"/>
      <inertia ixx=".0010" ixy="0.0" ixz="0.0" iyy=".0010" iyz="0.0" izz=".0010"/>
    </inertial>
  </link>
  <joint name="r2/right_arm/joint0" type="revolute">
    <parent link="r2/chest_base"/>
    <child link="r2/right_shoulder_roll"/>
    <origin rpy=" -1.5596 -0.0 -0.26157" xyz=" 0.0 -0.0 0.0"/>
    <axis xyz="0 0 1"/>
    <dynamics damping="10.0" friction="0.0"/>
    <limit effort="100.0" lower="-1.57" upper="1.57" velocity="1000"/>
  </joint>
  <link name="r2/right_shoulder_roll">
    <visual>
      <geometry>
        <mesh filename="package://r2_description/meshes/Right_Shoulder_Upper.dae"/>
      </geometry>
      <material name="dirty_white"/>
      <origin rpy="0 0 2.25" xyz="0 0 .0254"/>
    </visual>
    <!-- <collision>
      <geometry>
        <mesh filename="package://r2_description/meshes/Right_Shoulder_Upper.dae"/>
      </geometry>
      <origin rpy="0 0 2.35" xyz="0 0 .0254"/>
    </collision> -->
    <inertial>
      <origin xyz="0.0089916 -0.00131572  0.10287"/>
      <mass value="6.168856232"/>
      <inertia ixx="0.0198585269" ixy="0.0060195977" ixz="0.0003950635" iyy="0.0671900643" iyz="0.00012683" izz="0.0634150128"/>
    </inertial>
  </link>
  <joint name="r2/right_arm/joint1" type="revolute">
    <parent link="r2/right_shoulder_roll"/>
    <child link="r2/right_shoulder_pitch"/>
    <origin rpy=" 1.5637 -0.0 -1.570796" xyz=" 0.0 -0.0 0.320929"/>
    <axis xyz="0 0 1"/>
    <dynamics damping="10.0" friction="0.0"/>
    <limit effort="100.0" lower="-1.66" upper=".175" velocity="1000"/>
  </joint>
  <link name="r2/right_shoulder_pitch">
    <visual>
      <geometry>
        <mesh filename="package://r2_description/meshes/Right_Shoulder_Lower.dae"/>
      </geometry>
      <material name="dirty_white"/>
      <origin rpy=".0 0 1.57" xyz="0 0 0"/>
    </visual>
    <!--   <collision>
      <geometry>
        <mesh filename="package://r2_description/meshes/Right_Shoulder_Lower.dae"/>
      </geometry>
      <origin rpy=".0 0 1.57" xyz="0 0 0"/>
    </collision> -->
    <inertial>
      <origin xyz="0.0077978 0.037084 0.00028448"/>
      <mass value="4.4270615312"/>
      <inertia ixx="0.0113836825" ixy="-.0000217138622526" ixz="-.001512947" iyy="0.0251962741" iyz="-0.000052382497887" izz="0.02701064"/>
    </inertial>
  </link>
  <joint name="r2/right_arm/joint2" type="revolute">
    <parent link="r2/right_shoulder_pitch"/>
    <child link="r2/right_upper_arm"/>
    <origin rpy=" -1.5679 -0.0 0.0" xyz=" 0.0 0.0 0.0"/>
    <axis xyz="0 0 1"/>
    <dynamics damping="10.0" friction="0.0"/>
    <limit effort="100.0" lower="0.785" upper="4.89" velocity="1000"/>
  </joint>
  <link name="r2/right_upper_arm">
    <visual>
      <geometry>
        <mesh filename="package://r2_description/meshes/Right_Upper_Arm.dae"/>
      </geometry>
      <material name="dirty_white"/>
      <origin rpy="0 0 0" xyz="0 0 .1016"/>
    </visual>
    <collision>
      <geometry>
        <mesh filename="package://r2_description/meshes/Right_Upper_Arm.dae"/>
      </geometry>
      <origin rpy="0 0 0" xyz="0 0 .1016"/>
    </collision>
    <inertial>
      <origin xyz="0.041402  -0.0074168  0.1016"/>
      <mass value="4.853438359"/>
      <inertia ixx="0.04214011" ixy="-0.0013754064" ixz="-0.0065843922" iyy="0.0462370652" iyz="-0.00339462" izz="0.016007389"/>
    </inertial>
  </link>
  <joint name="r2/right_arm/joint3" type="revolute">
    <parent link="r2/right_upper_arm"/>
    <child link="r2/right_elbow"/>
    <origin rpy=" 1.5684 -0.0 0.0" xyz=" 0.0536067 0.0 0.355219"/>
    <axis xyz="0 0 1"/>
    <dynamics damping="1.0" friction="0.0"/>
    <limit effort="100.0" lower="-2.79" upper="-.087" velocity="1000"/>
  </joint>
  <link name="r2/right_elbow">
    <visual>
      <geometry>
        <mesh filename="package://r2_description/meshes/Right_Elbow.dae"/>
      </geometry>
      <material name="dirty_white"/>
      <origin rpy="0 0 1.57" xyz="0 0 0"/>
    </visual>
    <collision>
      <geometry>
        <mesh filename="package://r2_description/meshes/Right_Elbow.dae"/>
      </geometry>
      <origin rpy="0 0 1.57" xyz="0 0 0"/>
    </collision>
    <inertial>
      <origin xyz=" -0.026162  0.033782 0.0154432"/>
      <mass value="2.9710300235"/>
      <inertia ixx="0.0120274897" ixy="-0.001188117" ixz="0.0016417085" iyy="0.0088377175" iyz="-0.0031605083" izz="0.0105350275"/>
    </inertial>
  </link>
  <joint name="r2/right_arm/joint4" type="revolute">
    <parent link="r2/right_elbow"/>
    <child link="r2/right_lower_arm"/>
    <origin rpy=" -1.5656 -0.0 0.0" xyz=" -0.0537464 -0.0 0.0"/>
    <axis xyz="0 0 1"/>
    <dynamics damping="1.0" friction="0.0"/>
    <limit effort="100.0" lower="-4.45" upper="1.31" velocity="1000"/>
  </joint>
  <link name="r2/right_lower_arm">
    <visual>
      <geometry>
        <mesh filename="package://r2_description/meshes/Right_Forearm.dae"/>
      </geometry>
      <material name="dirty_white"/>
      <origin xyz="0 0 0.1"/>
    </visual>
    <collision>
      <geometry>
        <mesh filename="package://r2_description/meshes/Right_Forearm.dae"/>
      </geometry>
      <origin xyz="0 0 0.1"/>
    </collision>
    <inertial>
      <origin xyz="0.0003556 -0.00122682 0.17653"/>
      <mass value="6.939963261"/>
      <inertia ixx="0.0125249771" ixy="0.0002446467" ixz="0.0005208986" iyy="0.0395063532" iyz="0.0001691457" izz="0.0403842721"/>
    </inertial>
  </link>
  <joint name="r2/right_arm/joint5" type="revolute">
    <parent link="r2/right_lower_arm"/>
    <child link="r2/right_wrist_pitch"/>
    <origin rpy=" 1.5329 -0.0 0.0" xyz=" 0.0 0.0 0.3569462"/>
    <axis xyz="0 0 1"/>
    <dynamics damping="1.0" friction="0.0"/>
    <limit effort="100.0" lower="-1.22" upper="1.22" velocity="1000"/>
  </joint>
  <link name="r2/right_wrist_pitch">
    <inertial>
      <origin xyz="0.00092202 -0.004064 0.000000152908"/>
      <mass value="0.1165732391"/>
      <inertia ixx="0.1" ixy="0.0" ixz="0.0" iyy="0.1" iyz="0.0" izz="0.1"/>
    </inertial>
  </link>
  <joint name="r2/right_arm/joint6" type="revolute">
    <parent link="r2/right_wrist_pitch"/>
    <child link="r2/right_wrist_yaw"/>
    <origin rpy=" 1.5612 -0.0 1.5923" xyz=" -0.000139607 0.006491247 0.0"/>
    <axis xyz="0 0 1"/>
    <dynamics damping="1.0" friction="0.0"/>
    <limit effort="100.0" lower="-0.785" upper="0.785" velocity="1000"/>
  </joint>
  <link name="r2/right_wrist_yaw">
    <inertial>
      <origin xyz="0.067564 0.00090932 0.0253746"/>
      <mass value="0.1"/>
      <inertia ixx="0.1" ixy="0.0" ixz="0.0" iyy="0.1" iyz="0.0" izz="0.1"/>
    </inertial>
  </link>
  <joint name="r2/fixed/right_wrist_yaw/right_palm" type="fixed">
    <parent link="r2/right_wrist_yaw"/>
    <child link="r2/right_palm"/>
    <origin rpy=" 0.0 -0.0 0.0299" xyz=" 0.0 0.0 0.0"/>
  </joint>
  <link name="r2/right_palm">
    <visual>
      <geometry>
        <mesh filename="package://r2_description/meshes/Right_Palm.dae"/>
      </geometry>
      <origin rpy="3.14 0 1.57" xyz="0.0 0.0 -0.0"/>
    </visual>
    <collision>
      <geometry>
        <mesh filename="package://r2_description/meshes/Right_Palm.dae"/>
      </geometry>
      <origin rpy="3.14 0 1.57" xyz="0.0 0.0 -0.0"/>
    </collision>
    <inertial>
      <mass value="1.1"/>
      <inertia ixx="0.1" ixy="0.0" ixz="0.0" iyy="0.1" iyz="0.0" izz="0.1"/>
    </inertial>
  </link>
  <joint name="r2/right_arm/hand/thumb/joint0" type="revolute">
    <parent link="r2/right_wrist_yaw"/>
    <child link="r2/right_thumb_base"/>
    <origin rpy=" 1.57079632679 0.174532791018 -1.30899687745 " xyz="0.03302 -0.03048 0.00635 "/>
    <axis xyz="0 0 1"/>
    <limit effort="10000000.0" lower="0.0" upper="1.2217" velocity="1000"/>
    <dynamics damping="0.1" friction="0.0"/>
  </joint>
  <joint name="r2/fixed/right_index_base/right_index_base" type="fixed">
    <parent link="r2/right_wrist_yaw"/>
    <child link="r2/right_index_base"/>
    <origin rpy=" 0.0 -0.0 -0.122172725275  " xyz=" 0.0994646728 -0.0271119346 -0.0161544 "/>
  </joint>
  <joint name="r2/right_arm/hand/index/joint0" type="revolute">
    <parent link="r2/right_index_base"/>
    <child link="r2/right_index_yaw"/>
    <origin rpy="0.0 0.0 0.0" xyz="0.0 0.0 0.0"/>
    <axis xyz="0 0 1"/>
    <limit effort="10000000.0" lower="-0.3491" upper="0.3491" velocity="1000"/>
    <dynamics damping="0.1" friction="0.0"/>
  </joint>
  <joint name="r2/fixed/right_middle_base/right_middle_base" type="fixed">
    <parent link="r2/right_wrist_yaw"/>
    <child link="r2/right_middle_base"/>
    <origin rpy=" 0.0 -0.0 0.0 " xyz="0.10646537 -0.00254 -0.0161544 "/>
  </joint>
  <joint name="r2/right_arm/hand/middle/joint0" type="revolute">
    <parent link="r2/right_middle_base"/>
    <child link="r2/right_middle_yaw"/>
    <origin rpy="0.0 0.0 0.0" xyz="0.0 0.0 0.0"/>
    <axis xyz="0 0 1"/>
    <limit effort="10000000.0" lower="-0.3491" upper="0.3491" velocity="1000"/>
    <dynamics damping="0.1" friction="0.0"/>
  </joint>
  <joint name="r2/right_arm/hand/ring/joint0" type="revolute">
    <parent link="r2/right_wrist_yaw"/>
    <child link="r2/right_ring_proximal"/>
    <origin rpy=" 1.57079632679 -0.0 0.122172725275  " xyz=" 0.1084539614 0.019792569 -0.012319 "/>
    <axis xyz="0 0 1"/>
    <limit effort="10000000.0" lower="0" upper="2.9671" velocity="1000"/>
    <dynamics damping="0.1" friction="0.0"/>
  </joint>
  <joint name="r2/right_arm/hand/little/joint0" type="revolute">
    <parent link="r2/right_wrist_yaw"/>
    <child link="r2/right_little_proximal"/>
    <origin rpy=" 1.53588943985 -0.0872667473393 0.17453258148  " xyz=" 0.094635701 0.0403792436 -0.0060878212 "/>
    <axis xyz="0 0 1"/>
    <limit effort="10000000.0" lower="0" upper="2.9671" velocity="1000"/>
    <dynamics damping="0.1" friction="0.0"/>
  </joint>
  <link name="r2/right_thumb_base">
    <inertial>
      <mass value=".05"/>
      <inertia ixx=".0010" ixy="0.0" ixz="0.0" iyy=".0010" iyz="0.0" izz=".0010"/>
    </inertial>
  </link>
  <joint name="r2/fixed/right_thumb_base/right_thumb_proximal" type="fixed">
    <parent link="r2/right_thumb_base"/>
    <child link="r2/right_thumb_proximal"/>
    <origin rpy=" -1.570796 -0.0 0.0 " xyz=" 0.011938 0.0 0.0 "/>
  </joint>
  <link name="r2/right_thumb_proximal">
    <inertial>
      <mass value=".05"/>
      <inertia ixx=".0010" ixy="0.0" ixz="0.0" iyy=".0010" iyz="0.0" izz=".0010"/>
    </inertial>
    <visual>
      <geometry>
        <mesh filename="package://r2_description/meshes/Left_Thumb_Carp.dae"/>
      </geometry>
      <origin rpy="-1.57 0 0" xyz="-0.01 0.0 0.0"/>
    </visual>
    <collision>
      <geometry>
        <mesh filename="package://r2_description/meshes/Left_Thumb_Carp.dae" scale="0.9 0.9 0.9"/>
      </geometry>
      <origin rpy="-1.57 0 0" xyz="-0.01 0.0 0.0"/>
    </collision>
  </link>
  <joint name="r2/right_arm/hand/thumb/joint1" type="revolute">
    <parent link="r2/right_thumb_proximal"/>
    <child link="r2/right_thumb_medial_prime"/>
    <origin rpy=" 0.0 -0.0 0.0 " xyz=" 0.0 0.0 0.0 "/>
    <axis xyz="0 0 1"/>
    <limit effort="10000000.0" lower="0.0" upper="1.3963" velocity="1000"/>
    <dynamics damping="0.1" friction="0.0"/>
  </joint>
  <link name="r2/right_thumb_medial_prime">
    <inertial>
      <mass value=".05"/>
      <inertia ixx=".0010" ixy="0.0" ixz="0.0" iyy=".0010" iyz="0.0" izz=".0010"/>
    </inertial>
    <visual>
      <geometry>
        <mesh filename="package://r2_description/meshes/Right_Thumb_MtCar.dae"/>
      </geometry>
      <origin rpy="-1.57 -1.57 0 " xyz="-0.0 0 0.0"/>
    </visual>
    <collision>
      <geometry>
        <mesh filename="package://r2_description/meshes/Right_Thumb_MtCar.dae" scale="0.9 0.9 0.9"/>
      </geometry>
      <origin rpy="-1.57 -1.57 0 " xyz="-0.0 0 0.0"/>
    </collision>
  </link>
  <joint name="r2/right_arm/hand/thumb/joint2" type="revolute">
    <parent link="r2/right_thumb_medial_prime"/>
    <child link="r2/right_thumb_medial"/>
    <origin rpy=" 0.698132284627 -0.0 0.0 " xyz=" 0.030734 -0.001905 -0.00254 "/>
    <axis xyz="0 0 1"/>
    <limit effort="10000000.0" lower="0.0" upper="1.2217" velocity="1000"/>
    <dynamics damping="0.1" friction="0.0"/>
  </joint>
  <link name="r2/right_thumb_medial">
    <inertial>
      <mass value=".05"/>
      <inertia ixx=".0010" ixy="0.0" ixz="0.0" iyy=".0010" iyz="0.0" izz=".0010"/>
    </inertial>
    <visual>
      <geometry>
        <mesh filename="package://r2_description/meshes/Thumb_Proximal.dae"/>
      </geometry>
      <origin rpy="3.14 0 1.57" xyz="0.0 0.0 0.0"/>
    </visual>
    <collision>
      <geometry>
        <mesh filename="package://r2_description/meshes/Thumb_Proximal.dae"/>
      </geometry>
      <origin rpy="3.14 0 1.57" xyz="0.0 0.0 0.0"/>
    </collision>
  </link>
  <joint name="r2/right_arm/hand/thumb/joint3" type="revolute">
    <parent link="r2/right_thumb_medial"/>
    <child link="r2/right_thumb_distal"/>
    <origin rpy=" 0.0 -0.0 0.0 " xyz=" 0.03937 0.0 0.0 "/>
    <axis xyz="0 0 1"/>
    <limit effort="10000000.0" lower="-0.5236" upper="1.57" velocity="1000"/>
    <dynamics damping="0.1" friction="0.0"/>
  </joint>
  <link name="r2/right_thumb_distal">
    <inertial>
      <mass value=".05"/>
      <inertia ixx=".0010" ixy="0.0" ixz="0.0" iyy=".0010" iyz="0.0" izz=".0010"/>
    </inertial>
    <visual>
      <geometry>
        <mesh filename="package://r2_description/meshes/Thumb_Dist.dae"/>
      </geometry>
      <origin rpy="3.14 3.14 0" xyz="0.0 0.0 0.0"/>
    </visual>
    <collision>
      <geometry>
        <mesh filename="package://r2_description/meshes/Thumb_Dist.dae"/>
      </geometry>
      <origin rpy="3.14 3.14 0" xyz="0.0 0.0 0.0"/>
    </collision>
  </link>
  <joint name="r2/fixed/right_thumb_distal/right_thumb_tip" type="fixed">
    <parent link="r2/right_thumb_distal"/>
    <child link="r2/right_thumb_tip"/>
    <origin rpy=" 0.0 -0.0 0.0 " xyz=" 0.03302 0.0 0.0 "/>
  </joint>
  <link name="r2/right_thumb_tip">
    <inertial>
      <mass value=".05"/>
      <inertia ixx=".0010" ixy="0.0" ixz="0.0" iyy=".0010" iyz="0.0" izz=".0010"/>
    </inertial>
  </link>
  <link name="r2/right_index_base">
    <inertial>
      <mass value=".05"/>
      <inertia ixx=".0010" ixy="0.0" ixz="0.0" iyy=".0010" iyz="0.0" izz=".0010"/>
    </inertial>
  </link>
  <link name="r2/right_index_yaw">
    <inertial>
      <mass value=".05"/>
      <inertia ixx=".0010" ixy="0.0" ixz="0.0" iyy=".0010" iyz="0.0" izz=".0010"/>
    </inertial>
  </link>
  <joint name="r2/right_arm/hand/index/joint1" type="revolute">
    <parent link="r2/right_index_yaw"/>
    <child link="r2/right_index_proximal"/>
    <origin rpy=" 1.570796 -0.0 0.0 " xyz=" 0.009652 0.0 0.0 "/>
    <axis xyz="0 0 1"/>
    <limit effort="10000000.0" lower="0.0" upper="1.57" velocity="1000"/>
    <dynamics damping="0.1" friction="0.0"/>
  </joint>
  <link name="r2/right_index_proximal">
    <inertial>
      <mass value=".05"/>
      <inertia ixx=".0010" ixy="0.0" ixz="0.0" iyy=".0010" iyz="0.0" izz=".0010"/>
    </inertial>
    <visual>
      <geometry>
        <mesh filename="package://r2_description/meshes/Finger_Proximal.dae"/>
      </geometry>
      <origin rpy="0 0 1.57" xyz="0.0 0.0 0.0"/>
    </visual>
    <collision>
      <geometry>
        <mesh filename="package://r2_description/meshes/Finger_Proximal.dae"/>
      </geometry>
      <origin rpy="0 0 1.57" xyz="0.0 0.0 0.0"/>
    </collision>
  </link>
  <joint name="r2/right_arm/hand/index/joint2" type="revolute">
    <parent link="r2/right_index_proximal"/>
    <child link="r2/right_index_medial"/>
    <origin rpy=" 0.0 -0.0 0.0 " xyz=" 0.04445 0.0 0.0 "/>
    <axis xyz="0 0 1"/>
    <limit effort="10000000.0" lower="0.0" upper="1.57" velocity="1000"/>
    <dynamics damping="0.1" friction="0.0"/>
  </joint>
  <link name="r2/right_index_medial">
    <inertial>
      <mass value=".05"/>
      <inertia ixx=".0010" ixy="0.0" ixz="0.0" iyy=".0010" iyz="0.0" izz=".0010"/>
    </inertial>
    <visual>
      <geometry>
        <mesh filename="package://r2_description/meshes/Finger_Mid.dae"/>
      </geometry>
      <origin rpy="3.14 0 1.57" xyz="0.0 0.0 0.0"/>
    </visual>
    <collision>
      <geometry>
        <mesh filename="package://r2_description/meshes/Finger_Mid.dae"/>
      </geometry>
      <origin rpy="3.14 0 1.57" xyz="0.0 0.0 0.0"/>
    </collision>
  </link>
  <joint name="r2/right_arm/hand/index/joint3" type="revolute">
    <parent link="r2/right_index_medial"/>
    <child link="r2/right_index_distal"/>
    <origin rpy=" 0.0 -0.0 0.0 " xyz=" 0.03048 0.0 0.0 "/>
    <axis xyz="0 0 1"/>
    <limit effort="10000000.0" lower="0.0" upper="1.57" velocity="1000"/>
    <dynamics damping="0.1" friction="0.0"/>
  </joint>
  <link name="r2/right_index_distal">
    <inertial>
      <mass value=".05"/>
      <inertia ixx=".0010" ixy="0.0" ixz="0.0" iyy=".0010" iyz="0.0" izz=".0010"/>
    </inertial>
    <visual>
      <geometry>
        <mesh filename="package://r2_description/meshes/Finger_Dist.dae"/>
      </geometry>
      <origin rpy="0 -1.57 0" xyz="0.0 0.0 0.0"/>
    </visual>
    <collision>
      <geometry>
        <mesh filename="package://r2_description/meshes/Finger_Dist.dae"/>
      </geometry>
      <origin rpy="0 -1.57 0" xyz="0.0 0.0 0.0"/>
    </collision>
  </link>
  <joint name="r2/fixed/right_index_distal/right_index_tip" type="fixed">
    <parent link="r2/right_index_distal"/>
    <child link="r2/right_index_tip"/>
    <origin rpy=" 0.0 -0.0 0.0 " xyz=" 0.024638 0.0 0.0 "/>
  </joint>
  <link name="r2/right_index_tip">
    <inertial>
      <mass value=".05"/>
      <inertia ixx=".0010" ixy="0.0" ixz="0.0" iyy=".0010" iyz="0.0" izz=".0010"/>
    </inertial>
  </link>
  <link name="r2/right_middle_base">
    <inertial>
      <mass value=".0010"/>
      <inertia ixx=".0010" ixy="0.0" ixz="0.0" iyy=".0010" iyz="0.0" izz=".0010"/>
    </inertial>
  </link>
  <link name="r2/right_middle_yaw">
    <inertial>
      <mass value=".0010"/>
      <inertia ixx=".0010" ixy="0.0" ixz="0.0" iyy=".0010" iyz="0.0" izz=".0010"/>
    </inertial>
  </link>
  <joint name="r2/right_arm/hand/middle/joint1" type="revolute">
    <parent link="r2/right_middle_yaw"/>
    <child link="r2/right_middle_proximal"/>
    <origin rpy=" 1.570796 -0.0 0.0 " xyz=" 0.009652 0.0 0.0 "/>
    <axis xyz="0 0 1"/>
    <limit effort="10000000.0" lower="0.0" upper="1.57" velocity="1000"/>
    <dynamics damping="0.1" friction="0.0"/>
  </joint>
  <link name="r2/right_middle_proximal">
    <inertial>
      <mass value=".05"/>
      <inertia ixx=".0010" ixy="0.0" ixz="0.0" iyy=".0010" iyz="0.0" izz=".0010"/>
    </inertial>
    <visual>
      <geometry>
        <mesh filename="package://r2_description/meshes/Finger_Proximal.dae"/>
      </geometry>
      <origin rpy="0 0 1.57" xyz="0.0 0.0 0.0"/>
    </visual>
    <collision>
      <geometry>
        <mesh filename="package://r2_description/meshes/Finger_Proximal.dae" scale="0.9 0.9 0.9"/>
      </geometry>
      <origin rpy="0 0 1.57" xyz="0.0 0.0 0.0"/>
    </collision>
  </link>
  <joint name="r2/right_arm/hand/middle/joint2" type="revolute">
    <parent link="r2/right_middle_proximal"/>
    <child link="r2/right_middle_medial"/>
    <origin rpy=" 0.0 -0.0 0.0 " xyz=" 0.04445 0.0 0.0 "/>
    <axis xyz="0 0 1"/>
    <limit effort="10000000.0" lower="0.0" upper="1.57" velocity="1000"/>
    <dynamics damping="0.1" friction="0.0"/>
  </joint>
  <link name="r2/right_middle_medial">
    <inertial>
      <mass value=".05"/>
      <inertia ixx=".0010" ixy="0.0" ixz="0.0" iyy=".0010" iyz="0.0" izz=".0010"/>
    </inertial>
    <visual>
      <geometry>
        <mesh filename="package://r2_description/meshes/Finger_Mid.dae"/>
      </geometry>
      <origin rpy="3.14 0 1.57" xyz="0.0 0.0 0.0"/>
    </visual>
    <collision>
      <geometry>
        <mesh filename="package://r2_description/meshes/Finger_Mid.dae" scale="0.9 0.9 0.9"/>
      </geometry>
      <origin rpy="3.14 0 1.57" xyz="0.0 0.0 0.0"/>
    </collision>
  </link>
  <joint name="r2/right_arm/hand/middle/joint3" type="revolute">
    <parent link="r2/right_middle_medial"/>
    <child link="r2/right_middle_distal"/>
    <origin rpy=" 0.0 -0.0 0.0 " xyz=" 0.03048 0.0 0.0 "/>
    <axis xyz="0 0 1"/>
    <limit effort="10000000.0" lower="0.0" upper="1.57" velocity="1000"/>
    <dynamics damping="0.1" friction="0.0"/>
  </joint>
  <link name="r2/right_middle_distal">
    <inertial>
      <mass value=".05"/>
      <inertia ixx=".0010" ixy="0.0" ixz="0.0" iyy=".0010" iyz="0.0" izz=".0010"/>
    </inertial>
    <visual>
      <geometry>
        <mesh filename="package://r2_description/meshes/Finger_Dist.dae"/>
      </geometry>
      <origin rpy="0 -1.57 0" xyz="0.0 0.0 0.0"/>
    </visual>
    <collision>
      <geometry>
        <mesh filename="package://r2_description/meshes/Finger_Dist.dae" scale="0.9 0.9 0.9"/>
      </geometry>
      <origin rpy="0 -1.57 0" xyz="0.0 0.0 0.0"/>
    </collision>
  </link>
  <joint name="r2/fixed/right_middle_distal/right_middle_tip" type="fixed">
    <parent link="r2/right_middle_distal"/>
    <child link="r2/right_middle_tip"/>
    <origin rpy=" 0.0 -0.0 0.0 " xyz=" 0.024638 0.0 0.0 "/>
  </joint>
  <link name="r2/right_middle_tip">
    <inertial>
      <mass value=".05"/>
      <inertia ixx=".0010" ixy="0.0" ixz="0.0" iyy=".0010" iyz="0.0" izz=".0010"/>
    </inertial>
  </link>
  <link name="r2/right_ring_proximal">
    <inertial>
      <mass value=".05"/>
      <inertia ixx=".0010" ixy="0.0" ixz="0.0" iyy=".0010" iyz="0.0" izz=".0010"/>
    </inertial>
    <visual>
      <geometry>
        <mesh filename="package://r2_description/meshes/Finger_Proximal.dae"/>
      </geometry>
      <origin rpy="0 0 1.57" xyz="0.0 0.0 0.0"/>
    </visual>
    <collision>
      <geometry>
        <mesh filename="package://r2_description/meshes/Finger_Proximal.dae" scale="0.9 0.9 0.9"/>
      </geometry>
      <origin rpy="0 0 1.57" xyz="0.0 0.0 0.0"/>
    </collision>
  </link>
  <joint name="r2/right_arm/hand/ring/joint1" type="revolute">
    <parent link="r2/right_ring_proximal"/>
    <child link="r2/right_ring_medial"/>
    <origin rpy=" 0.0 -0.0 0.0 " xyz=" 0.04445 0.0 0.0 "/>
    <axis xyz="0 0 1"/>
    <limit effort="10000000.0" lower="0" upper="2.9671" velocity="1000"/>
    <dynamics damping="0.1" friction="0.0"/>
  </joint>
  <link name="r2/right_ring_medial">
    <inertial>
      <mass value=".05"/>
      <inertia ixx=".0010" ixy="0.0" ixz="0.0" iyy=".0010" iyz="0.0" izz=".0010"/>
    </inertial>
    <visual>
      <geometry>
        <mesh filename="package://r2_description/meshes/Finger_Mid.dae"/>
      </geometry>
      <origin rpy="3.14 0 1.57" xyz="0.0 0.0 0.0"/>
    </visual>
    <collision>
      <geometry>
        <mesh filename="package://r2_description/meshes/Finger_Mid.dae" scale="0.9 0.9 0.9"/>
      </geometry>
      <origin rpy="3.14 0 1.57" xyz="0.0 0.0 0.0"/>
    </collision>
  </link>
  <joint name="r2/right_arm/hand/ring/joint2" type="revolute">
    <parent link="r2/right_ring_medial"/>
    <child link="r2/right_ring_distal"/>
    <origin rpy=" 0.0 -0.0 0.0 " xyz=" 0.03048 0.0 0.0 "/>
    <axis xyz="0 0 1"/>
    <limit effort="10000000.0" lower="0" upper="2.9671" velocity="1000"/>
    <dynamics damping="0.1" friction="0.0"/>
  </joint>
  <link name="r2/right_ring_distal">
    <inertial>
      <mass value=".05"/>
      <inertia ixx=".0010" ixy="0.0" ixz="0.0" iyy=".0010" iyz="0.0" izz=".0010"/>
    </inertial>
    <visual>
      <geometry>
        <mesh filename="package://r2_description/meshes/Finger_Dist.dae"/>
      </geometry>
      <origin rpy="0 -1.57 0" xyz="0.0 0.0 0.0"/>
    </visual>
    <collision>
      <geometry>
        <mesh filename="package://r2_description/meshes/Finger_Dist.dae" scale="0.9 0.9 0.9"/>
      </geometry>
      <origin rpy="0 -1.57 0" xyz="0.0 0.0 0.0"/>
    </collision>
  </link>
  <joint name="r2/fixed/right_ring_distal/right_ring_tip" type="fixed">
    <parent link="r2/right_ring_distal"/>
    <child link="r2/right_ring_tip"/>
    <origin rpy=" 0.0 -0.0 0.0 " xyz=" 0.024638 0.0 0.0 "/>
  </joint>
  <link name="r2/right_ring_tip">
    <inertial>
      <mass value=".05"/>
      <inertia ixx=".0010" ixy="0.0" ixz="0.0" iyy=".0010" iyz="0.0" izz=".0010"/>
    </inertial>
  </link>
  <link name="r2/right_little_proximal">
    <inertial>
      <mass value=".05"/>
      <inertia ixx=".0010" ixy="0.0" ixz="0.0" iyy=".0010" iyz="0.0" izz=".0010"/>
    </inertial>
    <visual>
      <geometry>
        <mesh filename="package://r2_description/meshes/Finger_Proximal.dae"/>
      </geometry>
      <origin rpy="0 0 1.57" xyz="0.0 0.0 0.0"/>
    </visual>
    <collision>
      <geometry>
        <mesh filename="package://r2_description/meshes/Finger_Proximal.dae" scale="0.9 0.9 0.9"/>
      </geometry>
      <origin rpy="0 0 1.57" xyz="0.0 0.0 0.0"/>
    </collision>
  </link>
  <joint name="r2/right_arm/hand/little/joint1" type="revolute">
    <parent link="r2/right_little_proximal"/>
    <child link="r2/right_little_medial"/>
    <origin rpy=" 0.0 -0.0 0.0 " xyz=" 0.04445 0.0 0.0 "/>
    <axis xyz="0 0 1"/>
    <limit effort="10000000.0" lower="0" upper="2.9671" velocity="1000"/>
    <dynamics damping="0.1" friction="0.0"/>
  </joint>
  <link name="r2/right_little_medial">
    <inertial>
      <mass value=".05"/>
      <inertia ixx=".0010" ixy="0.0" ixz="0.0" iyy=".0010" iyz="0.0" izz=".0010"/>
    </inertial>
    <visual>
      <geometry>
        <mesh filename="package://r2_description/meshes/Finger_Mid.dae"/>
      </geometry>
      <origin rpy="3.14 0 1.57" xyz="0.0 0.0 0.0"/>
    </visual>
    <collision>
      <geometry>
        <mesh filename="package://r2_description/meshes/Finger_Mid.dae" scale="0.9 0.9 0.9"/>
      </geometry>
      <origin rpy="3.14 0 1.57" xyz="0.0 0.0 0.0"/>
    </collision>
  </link>
  <joint name="r2/right_arm/hand/little/joint2" type="revolute">
    <parent link="r2/right_little_medial"/>
    <child link="r2/right_little_distal"/>
    <origin rpy=" 0.0 -0.0 0.0 " xyz=" 0.03048 0.0 0.0 "/>
    <axis xyz="0 0 1"/>
    <limit effort="10000000.0" lower="0" upper="2.9671" velocity="1000"/>
    <dynamics damping="0.1" friction="0.0"/>
  </joint>
  <link name="r2/right_little_distal">
    <inertial>
      <mass value=".05"/>
      <inertia ixx=".0010" ixy="0.0" ixz="0.0" iyy=".0010" iyz="0.0" izz=".0010"/>
    </inertial>
    <visual>
      <geometry>
        <mesh filename="package://r2_description/meshes/Finger_Dist.dae"/>
      </geometry>
      <origin rpy="0 -1.57 0" xyz="0.0 0.0 0.0"/>
    </visual>
    <collision>
      <geometry>
        <mesh filename="package://r2_description/meshes/Finger_Dist.dae" scale="0.9 0.9 0.9"/>
      </geometry>
      <origin rpy="0 -1.57 0" xyz="0.0 0.0 0.0"/>
    </collision>
  </link>
  <joint name="r2/fixed/right_little_distal/right_little_tip" type="fixed">
    <parent link="r2/right_little_distal"/>
    <child link="r2/right_little_tip"/>
    <origin rpy=" 0.0 -0.0 0.0 " xyz=" 0.024638 0.0 0.0 "/>
  </joint>
  <link name="r2/right_little_tip">
    <inertial>
      <mass value=".05"/>
      <inertia ixx=".0010" ixy="0.0" ixz="0.0" iyy=".0010" iyz="0.0" izz=".0010"/>
    </inertial>
  </link>
  <gazebo reference="r2/waist_center">
    <selfCollide>false</selfCollide>
    <static>false</static>
    <turnGravityOff>false</turnGravityOff>
  </gazebo>
  <gazebo reference="r2/waist/joint0">
    <stopKd value="0.0"/>
    <stopKp value="1000.0"/>
  </gazebo>
  <gazebo reference="r2/left_shoulder_roll">
    <selfCollide>false</selfCollide>
    <static>false</static>
    <turnGravityOff>false</turnGravityOff>
  </gazebo>
  <gazebo reference="r2/left_shoulder_pitch">
    <selfCollide>false</selfCollide>
    <static>false</static>
    <turnGravityOff>false</turnGravityOff>
  </gazebo>
  <gazebo reference="r2/left_upper_arm">
    <selfCollide>false</selfCollide>
    <static>false</static>
    <turnGravityOff>false</turnGravityOff>
  </gazebo>
  <gazebo reference="r2/left_elbow">
    <selfCollide>false</selfCollide>
    <static>false</static>
    <turnGravityOff>false</turnGravityOff>
  </gazebo>
  <gazebo reference="r2/left_lower_arm">
    <selfCollide>false</selfCollide>
    <static>false</static>
    <turnGravityOff>false</turnGravityOff>
  </gazebo>
  <gazebo reference="r2/left_wrist_pitch">
    <selfCollide>false</selfCollide>
    <static>false</static>
    <turnGravityOff>false</turnGravityOff>
  </gazebo>
  <gazebo reference="r2/left_wrist_yaw">
    <selfCollide>false</selfCollide>
    <static>false</static>
    <turnGravityOff>false</turnGravityOff>
  </gazebo>
  <gazebo reference="r2/left_palm">
    <selfCollide>false</selfCollide>
    <static>false</static>
    <turnGravityOff>false</turnGravityOff>
  </gazebo>
  <gazebo reference="r2/left_arm/joint0">
    <stopKd value="0.0"/>
    <stopKp value="1000.0"/>
  </gazebo>
  <gazebo reference="r2/left_arm/joint1">
    <stopKd value="0.0"/>
    <stopKp value="1000.0"/>
  </gazebo>
  <gazebo reference="r2/left_arm/joint2">
    <stopKd value="0.0"/>
    <stopKp value="1000.0"/>
  </gazebo>
  <gazebo reference="r2/left_arm/joint3">
    <stopKd value="0.0"/>
    <stopKp value="1000.0"/>
  </gazebo>
  <gazebo reference="r2/left_arm/joint4">
    <stopKd value="0.0"/>
    <stopKp value="1000.0"/>
  </gazebo>
  <gazebo reference="r2/left_arm/joint5">
    <stopKd value="0.0"/>
    <stopKp value="1000.0"/>
  </gazebo>
  <gazebo reference="r2/left_arm/joint6">
    <stopKd value="0.0"/>
    <stopKp value="1000.0"/>
  </gazebo>
  <gazebo reference="r2/left_thumb_base">
    <selfCollide>false</selfCollide>
    <static>false</static>
    <turnGravityOff>false</turnGravityOff>
  </gazebo>
  <gazebo reference="r2/left_thumb_medial_prime">
    <selfCollide>false</selfCollide>
    <static>false</static>
    <turnGravityOff>false</turnGravityOff>
  </gazebo>
  <gazebo reference="r2/left_thumb_medial">
    <selfCollide>false</selfCollide>
    <static>false</static>
    <turnGravityOff>false</turnGravityOff>
  </gazebo>
  <gazebo reference="r2/left_thumb_distal">
    <selfCollide>false</selfCollide>
    <static>false</static>
    <turnGravityOff>false</turnGravityOff>
  </gazebo>
  <gazebo reference="r2/left_index_base">
    <selfCollide>false</selfCollide>
    <static>false</static>
    <turnGravityOff>false</turnGravityOff>
  </gazebo>
  <gazebo reference="r2/left_index_proximal">
    <selfCollide>false</selfCollide>
    <static>false</static>
    <turnGravityOff>false</turnGravityOff>
  </gazebo>
  <gazebo reference="r2/left_index_medial">
    <selfCollide>false</selfCollide>
    <static>false</static>
    <turnGravityOff>false</turnGravityOff>
  </gazebo>
  <gazebo reference="r2/left_index_distal">
    <selfCollide>false</selfCollide>
    <static>false</static>
    <turnGravityOff>false</turnGravityOff>
  </gazebo>
  <gazebo reference="r2/left_middle_base">
    <selfCollide>false</selfCollide>
    <static>false</static>
    <turnGravityOff>false</turnGravityOff>
  </gazebo>
  <gazebo reference="r2/left_middle_proximal">
    <selfCollide>false</selfCollide>
    <static>false</static>
    <turnGravityOff>false</turnGravityOff>
  </gazebo>
  <gazebo reference="r2/left_middle_medial">
    <selfCollide>false</selfCollide>
    <static>false</static>
    <turnGravityOff>false</turnGravityOff>
  </gazebo>
  <gazebo reference="r2/left_middle_distal">
    <selfCollide>false</selfCollide>
    <static>false</static>
    <turnGravityOff>false</turnGravityOff>
  </gazebo>
  <gazebo reference="r2/left_ring_proximal">
    <selfCollide>false</selfCollide>
    <static>false</static>
    <turnGravityOff>false</turnGravityOff>
  </gazebo>
  <gazebo reference="r2/left_ring_medial">
    <selfCollide>false</selfCollide>
    <static>false</static>
    <turnGravityOff>false</turnGravityOff>
  </gazebo>
  <gazebo reference="r2/left_ring_distal">
    <selfCollide>false</selfCollide>
    <static>false</static>
    <turnGravityOff>false</turnGravityOff>
  </gazebo>
  <gazebo reference="r2/left_little_proximal">
    <selfCollide>false</selfCollide>
    <static>false</static>
    <turnGravityOff>false</turnGravityOff>
  </gazebo>
  <gazebo reference="r2/left_little_medial">
    <selfCollide>false</selfCollide>
    <static>false</static>
    <turnGravityOff>false</turnGravityOff>
  </gazebo>
  <gazebo reference="r2/left_little_distal">
    <selfCollide>false</selfCollide>
    <static>false</static>
    <turnGravityOff>false</turnGravityOff>
  </gazebo>
  <gazebo reference="r2/right_shoulder_roll">
    <selfCollide>false</selfCollide>
    <static>false</static>
    <turnGravityOff>false</turnGravityOff>
  </gazebo>
  <gazebo reference="r2/right_shoulder_pitch">
    <selfCollide>false</selfCollide>
    <static>false</static>
    <turnGravityOff>false</turnGravityOff>
  </gazebo>
  <gazebo reference="r2/right_upper_arm">
    <selfCollide>false</selfCollide>
    <static>false</static>
    <turnGravityOff>false</turnGravityOff>
  </gazebo>
  <gazebo reference="r2/right_elbow">
    <selfCollide>false</selfCollide>
    <static>false</static>
    <turnGravityOff>false</turnGravityOff>
  </gazebo>
  <gazebo reference="r2/right_lower_arm">
    <selfCollide>false</selfCollide>
    <static>false</static>
    <turnGravityOff>false</turnGravityOff>
  </gazebo>
  <gazebo reference="r2/right_wrist_pitch">
    <selfCollide>false</selfCollide>
    <static>false</static>
    <turnGravityOff>false</turnGravityOff>
  </gazebo>
  <gazebo reference="r2/right_wrist_yaw">
    <selfCollide>false</selfCollide>
    <static>false</static>
    <turnGravityOff>false</turnGravityOff>
  </gazebo>
  <gazebo reference="r2/right_palm">
    <selfCollide>false</selfCollide>
    <static>false</static>
    <turnGravityOff>false</turnGravityOff>
  </gazebo>
  <gazebo reference="r2/right_arm/joint0">
    <stopKd value="0.0"/>
    <stopKp value="1000.0"/>
  </gazebo>
  <gazebo reference="r2/right_arm/joint1">
    <stopKd value="0.0"/>
    <stopKp value="1000.0"/>
  </gazebo>
  <gazebo reference="r2/right_arm/joint2">
    <stopKd value="0.0"/>
    <stopKp value="1000.0"/>
  </gazebo>
  <gazebo reference="r2/right_arm/joint3">
    <stopKd value="0.0"/>
    <stopKp value="1000.0"/>
  </gazebo>
  <gazebo reference="r2/right_arm/joint4">
    <stopKd value="0.0"/>
    <stopKp value="1000.0"/>
  </gazebo>
  <gazebo reference="r2/right_arm/joint5">
    <stopKd value="0.0"/>
    <stopKp value="1000.0"/>
  </gazebo>
  <gazebo reference="r2/right_arm/joint6">
    <stopKd value="0.0"/>
    <stopKp value="1000.0"/>
  </gazebo>
  <gazebo reference="r2/right_thumb_base">
    <selfCollide>false</selfCollide>
    <static>false</static>
    <turnGravityOff>false</turnGravityOff>
  </gazebo>
  <gazebo reference="r2/right_thumb_medial_prime">
    <selfCollide>false</selfCollide>
    <static>false</static>
    <turnGravityOff>false</turnGravityOff>
  </gazebo>
  <gazebo reference="r2/right_thumb_medial">
    <selfCollide>false</selfCollide>
    <static>false</static>
    <turnGravityOff>false</turnGravityOff>
  </gazebo>
  <gazebo reference="r2/right_thumb_distal">
    <selfCollide>false</selfCollide>
    <static>false</static>
    <turnGravityOff>false</turnGravityOff>
  </gazebo>
  <gazebo reference="r2/right_index_base">
    <selfCollide>false</selfCollide>
    <static>false</static>
    <turnGravityOff>false</turnGravityOff>
  </gazebo>
  <gazebo reference="r2/right_index_proximal">
    <selfCollide>false</selfCollide>
    <static>false</static>
    <turnGravityOff>false</turnGravityOff>
  </gazebo>
  <gazebo reference="r2/right_index_medial">
    <selfCollide>false</selfCollide>
    <static>false</static>
    <turnGravityOff>false</turnGravityOff>
  </gazebo>
  <gazebo reference="r2/right_index_distal">
    <selfCollide>false</selfCollide>
    <static>false</static>
    <turnGravityOff>false</turnGravityOff>
  </gazebo>
  <gazebo reference="r2/right_middle_base">
    <selfCollide>false</selfCollide>
    <static>false</static>
    <turnGravityOff>false</turnGravityOff>
  </gazebo>
  <gazebo reference="r2/right_middle_proximal">
    <selfCollide>false</selfCollide>
    <static>false</static>
    <turnGravityOff>false</turnGravityOff>
  </gazebo>
  <gazebo reference="r2/right_middle_medial">
    <selfCollide>false</selfCollide>
    <static>false</static>
    <turnGravityOff>false</turnGravityOff>
  </gazebo>
  <gazebo reference="r2/right_middle_distal">
    <selfCollide>false</selfCollide>
    <static>false</static>
    <turnGravityOff>false</turnGravityOff>
  </gazebo>
  <gazebo reference="r2/right_ring_proximal">
    <selfCollide>false</selfCollide>
    <static>false</static>
    <turnGravityOff>false</turnGravityOff>
  </gazebo>
  <gazebo reference="r2/right_ring_medial">
    <selfCollide>false</selfCollide>
    <static>false</static>
    <turnGravityOff>false</turnGravityOff>
  </gazebo>
  <gazebo reference="r2/right_ring_distal">
    <selfCollide>false</selfCollide>
    <static>false</static>
    <turnGravityOff>false</turnGravityOff>
  </gazebo>
  <gazebo reference="r2/right_little_proximal">
    <selfCollide>false</selfCollide>
    <static>false</static>
    <turnGravityOff>false</turnGravityOff>
  </gazebo>
  <gazebo reference="r2/right_little_medial">
    <selfCollide>false</selfCollide>
    <static>false</static>
    <turnGravityOff>false</turnGravityOff>
  </gazebo>
  <gazebo reference="r2/right_little_distal">
    <selfCollide>false</selfCollide>
    <static>false</static>
    <turnGravityOff>false</turnGravityOff>
  </gazebo>
  <gazebo reference="r2/neck_base">
    <selfCollide>false</selfCollide>
    <static>false</static>
    <turnGravityOff>false</turnGravityOff>
  </gazebo>
  <gazebo reference="r2/neck/joint0">
    <stopKd value="0.0"/>
    <stopKp value="1000.0"/>
  </gazebo>
  <gazebo reference="r2/neck_lower_pitch">
    <selfCollide>false</selfCollide>
    <static>false</static>
    <turnGravityOff>false</turnGravityOff>
  </gazebo>
  <gazebo reference="r2/neck/joint1">
    <stopKd value="0.0"/>
    <stopKp value="1000.0"/>
  </gazebo>
  <gazebo reference="r2/neck_roll">
    <selfCollide>false</selfCollide>
    <static>false</static>
    <turnGravityOff>false</turnGravityOff>
  </gazebo>
  <gazebo reference="r2/neck/joint2">
    <stopKd value="0.0"/>
    <stopKp value="1000.0"/>
  </gazebo>
  <gazebo reference="r2/simulated_asus_frame">
    <sensor name="openni_camera_camera" type="depth">
      <always_on>1</always_on>
      <visualize>true</visualize>
      <camera>
        <horizontal_fov>1.047</horizontal_fov>
        <image>
          <width>640</width>
          <height>480</height>
          <format>R8G8B8</format>
        </image>
        <depth_camera> </depth_camera>
        <clip>
          <near>0.1</near>
          <far>100</far>
        </clip>
      </camera>
      <plugin filename="libgazebo_ros_openni_kinect.so" name="camera_controller">
        <alwaysOn>true</alwaysOn>
        <updateRate>10.0</updateRate>
        <cameraName>r2/asus</cameraName>
        <frameName>r2/simulated_asus_frame</frameName>
        <imageTopicName>/r2/asus/rgb/image_raw</imageTopicName>
        <depthImageTopicName>/r2/asus/depth/image_raw</depthImageTopicName>
        <pointCloudTopicName>/r2/asus/depth/points</pointCloudTopicName>
        <cameraInfoTopicName>/r2/asus/rgb/camera_info</cameraInfoTopicName>
        <depthImageCameraInfoTopicName>/r2/asus/depth/camera_info</depthImageCameraInfoTopicName>
        <pointCloudCutoff>0.4</pointCloudCutoff>
        <hackBaseline>0.07</hackBaseline>
        <distortionK1>0.0</distortionK1>
        <distortionK2>0.0</distortionK2>
        <distortionK3>0.0</distortionK3>
        <distortionT1>0.0</distortionT1>
        <distortionT2>0.0</distortionT2>
        <CxPrime>0.0</CxPrime>
        <Cx>0.0</Cx>
        <Cy>0.0</Cy>
        <focalLength>0.0</focalLength>
      </plugin>
    </sensor>
  </gazebo>
  <transmission name="r2/waist_j0_trans">
    <type>transmission_interface/SimpleTransmission</type>
    <joint name="r2/waist/joint0"/>
    <actuator name="r2/waist_j0_motor">
      <hardwareInterface>EffortJointInterface</hardwareInterface>
      <mechanicalReduction>100</mechanicalReduction>
    </actuator>
    <motorTorqueConstant>0.01</motorTorqueConstant>
  </transmission>
  <transmission name="r2/left_arm_j0_trans">
    <type>transmission_interface/SimpleTransmission</type>
    <joint name="r2/left_arm/joint0"/>
    <actuator name="r2/left_arm_j0_motor">
      <hardwareInterface>EffortJointInterface</hardwareInterface>
      <mechanicalReduction>100</mechanicalReduction>
    </actuator>
    <motorTorqueConstant>0.01</motorTorqueConstant>
  </transmission>
  <transmission name="r2/left_arm_j1_trans">
    <type>transmission_interface/SimpleTransmission</type>
    <joint name="r2/left_arm/joint1"/>
    <actuator name="r2/left_arm_j1_motor">
      <hardwareInterface>EffortJointInterface</hardwareInterface>
      <mechanicalReduction>100</mechanicalReduction>
    </actuator>
    <motorTorqueConstant>0.01</motorTorqueConstant>
  </transmission>
  <transmission name="r2/left_arm_j2_trans">
    <type>transmission_interface/SimpleTransmission</type>
    <joint name="r2/left_arm/joint2"/>
    <actuator name="r2/left_arm_j2_motor">
      <hardwareInterface>EffortJointInterface</hardwareInterface>
      <mechanicalReduction>100</mechanicalReduction>
    </actuator>
    <motorTorqueConstant>0.01</motorTorqueConstant>
  </transmission>
  <transmission name="r2/left_arm_j3_trans">
    <type>transmission_interface/SimpleTransmission</type>
    <joint name="r2/left_arm/joint3"/>
    <actuator name="r2/left_arm_j3_motor">
      <hardwareInterface>EffortJointInterface</hardwareInterface>
      <mechanicalReduction>100</mechanicalReduction>
    </actuator>
    <motorTorqueConstant>0.01</motorTorqueConstant>
  </transmission>
  <transmission name="r2/left_arm_j4_trans">
    <type>transmission_interface/SimpleTransmission</type>
    <joint name="r2/left_arm/joint4"/>
    <actuator name="r2/left_arm_j4_motor">
      <hardwareInterface>EffortJointInterface</hardwareInterface>
      <mechanicalReduction>100</mechanicalReduction>
    </actuator>
    <motorTorqueConstant>0.01</motorTorqueConstant>
  </transmission>
  <transmission name="r2/left_arm_j5_trans">
    <type>transmission_interface/SimpleTransmission</type>
    <joint name="r2/left_arm/joint5"/>
    <actuator name="r2/left_arm_j5_motor">
      <hardwareInterface>EffortJointInterface</hardwareInterface>
      <mechanicalReduction>100</mechanicalReduction>
    </actuator>
    <motorTorqueConstant>0.01</motorTorqueConstant>
  </transmission>
  <transmission name="r2/left_arm_j6_trans">
    <type>transmission_interface/SimpleTransmission</type>
    <joint name="r2/left_arm/joint6"/>
    <actuator name="r2/left_arm_j6_motor">
      <hardwareInterface>EffortJointInterface</hardwareInterface>
      <mechanicalReduction>100</mechanicalReduction>
    </actuator>
    <motorTorqueConstant>0.01</motorTorqueConstant>
  </transmission>
  <transmission name="r2/left_arm/hand/thumb_j0_trans">
    <type>transmission_interface/SimpleTransmission</type>
    <joint name="r2/left_arm/hand/thumb/joint0"/>
    <actuator name="r2/left_arm/hand/thumb_j0_motor">
      <hardwareInterface>EffortJointInterface</hardwareInterface>
      <mechanicalReduction>100</mechanicalReduction>
    </actuator>
    <motorTorqueConstant>0.01</motorTorqueConstant>
  </transmission>
  <transmission name="r2/left_arm/hand/thumb_j1_trans">
    <type>transmission_interface/SimpleTransmission</type>
    <joint name="r2/left_arm/hand/thumb/joint1"/>
    <actuator name="r2/left_arm/hand/thumb_j1_motor">
      <hardwareInterface>EffortJointInterface</hardwareInterface>
      <mechanicalReduction>100</mechanicalReduction>
    </actuator>
    <motorTorqueConstant>0.01</motorTorqueConstant>
  </transmission>
  <transmission name="r2/left_arm/hand/thumb_j2_trans">
    <type>transmission_interface/SimpleTransmission</type>
    <joint name="r2/left_arm/hand/thumb/joint2"/>
    <actuator name="r2/left_arm/hand/thumb_j2_motor">
      <hardwareInterface>EffortJointInterface</hardwareInterface>
      <mechanicalReduction>100</mechanicalReduction>
    </actuator>
    <motorTorqueConstant>0.01</motorTorqueConstant>
  </transmission>
  <transmission name="r2/left_arm/hand/thumb_j3_trans">
    <type>transmission_interface/SimpleTransmission</type>
    <joint name="r2/left_arm/hand/thumb/joint3"/>
    <actuator name="r2/left_arm/hand/thumb_j3_motor">
      <hardwareInterface>EffortJointInterface</hardwareInterface>
      <mechanicalReduction>100</mechanicalReduction>
    </actuator>
    <motorTorqueConstant>0.01</motorTorqueConstant>
  </transmission>
  <transmission name="r2/left_arm/hand/index_j0_trans">
    <type>transmission_interface/SimpleTransmission</type>
    <joint name="r2/left_arm/hand/index/joint0"/>
    <actuator name="r2/left_arm/hand/index_j0_motor">
      <hardwareInterface>EffortJointInterface</hardwareInterface>
      <mechanicalReduction>100</mechanicalReduction>
    </actuator>
    <motorTorqueConstant>0.01</motorTorqueConstant>
  </transmission>
  <transmission name="r2/left_arm/hand/index_j1_trans">
    <type>transmission_interface/SimpleTransmission</type>
    <joint name="r2/left_arm/hand/index/joint1"/>
    <actuator name="r2/left_arm/hand/index_j1_motor">
      <hardwareInterface>EffortJointInterface</hardwareInterface>
      <mechanicalReduction>100</mechanicalReduction>
    </actuator>
    <motorTorqueConstant>0.01</motorTorqueConstant>
  </transmission>
  <transmission name="r2/left_arm/hand/index_j2_trans">
    <type>transmission_interface/SimpleTransmission</type>
    <joint name="r2/left_arm/hand/index/joint2"/>
    <actuator name="r2/left_arm/hand/index_j2_motor">
      <hardwareInterface>EffortJointInterface</hardwareInterface>
      <mechanicalReduction>100</mechanicalReduction>
    </actuator>
    <motorTorqueConstant>0.01</motorTorqueConstant>
  </transmission>
  <transmission name="r2/left_arm/hand/index_j3_trans">
    <type>transmission_interface/SimpleTransmission</type>
    <joint name="r2/left_arm/hand/index/joint3"/>
    <actuator name="r2/left_arm/hand/index_j3_motor">
      <hardwareInterface>EffortJointInterface</hardwareInterface>
      <mechanicalReduction>100</mechanicalReduction>
    </actuator>
    <motorTorqueConstant>0.01</motorTorqueConstant>
  </transmission>
  <transmission name="r2/left_arm/hand/middle_j0_trans">
    <type>transmission_interface/SimpleTransmission</type>
    <joint name="r2/left_arm/hand/middle/joint0"/>
    <actuator name="r2/left_arm/hand/middle_j0_motor">
      <hardwareInterface>EffortJointInterface</hardwareInterface>
      <mechanicalReduction>100</mechanicalReduction>
    </actuator>
    <motorTorqueConstant>0.01</motorTorqueConstant>
  </transmission>
  <transmission name="r2/left_arm/hand/middle_j1_trans">
    <type>transmission_interface/SimpleTransmission</type>
    <joint name="r2/left_arm/hand/middle/joint1"/>
    <actuator name="r2/left_arm/hand/middle_j1_motor">
      <hardwareInterface>EffortJointInterface</hardwareInterface>
      <mechanicalReduction>100</mechanicalReduction>
    </actuator>
    <motorTorqueConstant>0.01</motorTorqueConstant>
  </transmission>
  <transmission name="r2/left_arm/hand/middle_j2_trans">
    <type>transmission_interface/SimpleTransmission</type>
    <joint name="r2/left_arm/hand/middle/joint2"/>
    <actuator name="r2/left_arm/hand/middle_j2_motor">
      <hardwareInterface>EffortJointInterface</hardwareInterface>
      <mechanicalReduction>100</mechanicalReduction>
    </actuator>
    <motorTorqueConstant>0.01</motorTorqueConstant>
  </transmission>
  <transmission name="r2/left_arm/hand/middle_j3_trans">
    <type>transmission_interface/SimpleTransmission</type>
    <joint name="r2/left_arm/hand/middle/joint3"/>
    <actuator name="r2/left_arm/hand/middle_j3_motor">
      <hardwareInterface>EffortJointInterface</hardwareInterface>
      <mechanicalReduction>100</mechanicalReduction>
    </actuator>
    <motorTorqueConstant>0.01</motorTorqueConstant>
  </transmission>
  <transmission name="r2/left_arm/hand/ring_j0_trans">
    <type>transmission_interface/SimpleTransmission</type>
    <joint name="r2/left_arm/hand/ring/joint0"/>
    <actuator name="r2/left_arm/hand/ring_j0_motor">
      <hardwareInterface>EffortJointInterface</hardwareInterface>
      <mechanicalReduction>100</mechanicalReduction>
    </actuator>
    <motorTorqueConstant>0.01</motorTorqueConstant>
  </transmission>
  <transmission name="r2/left_arm/hand/ring_j1_trans">
    <type>transmission_interface/SimpleTransmission</type>
    <joint name="r2/left_arm/hand/ring/joint1"/>
    <actuator name="r2/left_arm/hand/ring_j1_motor">
      <hardwareInterface>EffortJointInterface</hardwareInterface>
      <mechanicalReduction>100</mechanicalReduction>
    </actuator>
    <motorTorqueConstant>0.01</motorTorqueConstant>
  </transmission>
  <transmission name="r2/left_arm/hand/ring_j2_trans">
    <type>transmission_interface/SimpleTransmission</type>
    <joint name="r2/left_arm/hand/ring/joint2"/>
    <actuator name="r2/left_arm/hand/ring_j2_motor">
      <hardwareInterface>EffortJointInterface</hardwareInterface>
      <mechanicalReduction>100</mechanicalReduction>
    </actuator>
    <motorTorqueConstant>0.01</motorTorqueConstant>
  </transmission>
  <transmission name="r2/left_arm/hand/little_j0_trans">
    <type>transmission_interface/SimpleTransmission</type>
    <joint name="r2/left_arm/hand/little/joint0"/>
    <actuator name="r2/left_arm/hand/little_j0_motor">
      <hardwareInterface>EffortJointInterface</hardwareInterface>
      <mechanicalReduction>100</mechanicalReduction>
    </actuator>
    <motorTorqueConstant>0.01</motorTorqueConstant>
  </transmission>
  <transmission name="r2/left_arm/hand/little_j1_trans">
    <type>transmission_interface/SimpleTransmission</type>
    <joint name="r2/left_arm/hand/little/joint1"/>
    <actuator name="r2/left_arm/hand/little_j1_motor">
      <hardwareInterface>EffortJointInterface</hardwareInterface>
      <mechanicalReduction>100</mechanicalReduction>
    </actuator>
    <motorTorqueConstant>0.01</motorTorqueConstant>
  </transmission>
  <transmission name="r2/left_arm/hand/little_j2_trans">
    <type>transmission_interface/SimpleTransmission</type>
    <joint name="r2/left_arm/hand/little/joint2"/>
    <actuator name="r2/left_arm/hand/little_j2_motor">
      <hardwareInterface>EffortJointInterface</hardwareInterface>
      <mechanicalReduction>100</mechanicalReduction>
    </actuator>
    <motorTorqueConstant>0.01</motorTorqueConstant>
  </transmission>
  <transmission name="r2/right_arm_j0_trans">
    <type>transmission_interface/SimpleTransmission</type>
    <joint name="r2/right_arm/joint0"/>
    <actuator name="r2/right_arm_j0_motor">
      <hardwareInterface>EffortJointInterface</hardwareInterface>
      <mechanicalReduction>100</mechanicalReduction>
    </actuator>
    <motorTorqueConstant>0.01</motorTorqueConstant>
  </transmission>
  <transmission name="r2/right_arm_j1_trans">
    <type>transmission_interface/SimpleTransmission</type>
    <joint name="r2/right_arm/joint1"/>
    <actuator name="r2/right_arm_j1_motor">
      <hardwareInterface>EffortJointInterface</hardwareInterface>
      <mechanicalReduction>100</mechanicalReduction>
    </actuator>
    <motorTorqueConstant>0.01</motorTorqueConstant>
  </transmission>
  <transmission name="r2/right_arm_j2_trans">
    <type>transmission_interface/SimpleTransmission</type>
    <joint name="r2/right_arm/joint2"/>
    <actuator name="r2/right_arm_j2_motor">
      <hardwareInterface>EffortJointInterface</hardwareInterface>
      <mechanicalReduction>100</mechanicalReduction>
    </actuator>
    <motorTorqueConstant>0.01</motorTorqueConstant>
  </transmission>
  <transmission name="r2/right_arm_j3_trans">
    <type>transmission_interface/SimpleTransmission</type>
    <joint name="r2/right_arm/joint3"/>
    <actuator name="r2/right_arm_j3_motor">
      <hardwareInterface>EffortJointInterface</hardwareInterface>
      <mechanicalReduction>100</mechanicalReduction>
    </actuator>
    <motorTorqueConstant>0.01</motorTorqueConstant>
  </transmission>
  <transmission name="r2/right_arm_j4_trans">
    <type>transmission_interface/SimpleTransmission</type>
    <joint name="r2/right_arm/joint4"/>
    <actuator name="r2/right_arm_j4_motor">
      <hardwareInterface>EffortJointInterface</hardwareInterface>
      <mechanicalReduction>100</mechanicalReduction>
    </actuator>
    <motorTorqueConstant>0.01</motorTorqueConstant>
  </transmission>
  <transmission name="r2/right_arm_j5_trans">
    <type>transmission_interface/SimpleTransmission</type>
    <joint name="r2/right_arm/joint5"/>
    <actuator name="r2/right_arm_j5_motor">
      <hardwareInterface>EffortJointInterface</hardwareInterface>
      <mechanicalReduction>100</mechanicalReduction>
    </actuator>
    <motorTorqueConstant>0.01</motorTorqueConstant>
  </transmission>
  <transmission name="r2/right_arm_j6_trans">
    <type>transmission_interface/SimpleTransmission</type>
    <joint name="r2/right_arm/joint6"/>
    <actuator name="r2/right_arm_j6_motor">
      <hardwareInterface>EffortJointInterface</hardwareInterface>
      <mechanicalReduction>100</mechanicalReduction>
    </actuator>
    <motorTorqueConstant>0.01</motorTorqueConstant>
  </transmission>
  <transmission name="r2/right_arm/hand/thumb_j0_trans">
    <type>transmission_interface/SimpleTransmission</type>
    <joint name="r2/right_arm/hand/thumb/joint0"/>
    <actuator name="r2/right_arm/hand/thumb_j0_motor">
      <hardwareInterface>EffortJointInterface</hardwareInterface>
      <mechanicalReduction>100</mechanicalReduction>
    </actuator>
    <motorTorqueConstant>0.01</motorTorqueConstant>
  </transmission>
  <transmission name="r2/right_arm/hand/thumb_j1_trans">
    <type>transmission_interface/SimpleTransmission</type>
    <joint name="r2/right_arm/hand/thumb/joint1"/>
    <actuator name="r2/right_arm/hand/thumb_j1_motor">
      <hardwareInterface>EffortJointInterface</hardwareInterface>
      <mechanicalReduction>100</mechanicalReduction>
    </actuator>
    <motorTorqueConstant>0.01</motorTorqueConstant>
  </transmission>
  <transmission name="r2/right_arm/hand/thumb_j2_trans">
    <type>transmission_interface/SimpleTransmission</type>
    <joint name="r2/right_arm/hand/thumb/joint2"/>
    <actuator name="r2/right_arm/hand/thumb_j2_motor">
      <hardwareInterface>EffortJointInterface</hardwareInterface>
      <mechanicalReduction>100</mechanicalReduction>
    </actuator>
    <motorTorqueConstant>0.01</motorTorqueConstant>
  </transmission>
  <transmission name="r2/right_arm/hand/thumb_j3_trans">
    <type>transmission_interface/SimpleTransmission</type>
    <joint name="r2/right_arm/hand/thumb/joint3"/>
    <actuator name="r2/right_arm/hand/thumb_j3_motor">
      <hardwareInterface>EffortJointInterface</hardwareInterface>
      <mechanicalReduction>100</mechanicalReduction>
    </actuator>
    <motorTorqueConstant>0.01</motorTorqueConstant>
  </transmission>
  <transmission name="r2/right_arm/hand/index_j0_trans">
    <type>transmission_interface/SimpleTransmission</type>
    <joint name="r2/right_arm/hand/index/joint0"/>
    <actuator name="r2/right_arm/hand/index_j0_motor">
      <hardwareInterface>EffortJointInterface</hardwareInterface>
      <mechanicalReduction>100</mechanicalReduction>
    </actuator>
    <motorTorqueConstant>0.01</motorTorqueConstant>
  </transmission>
  <transmission name="r2/right_arm/hand/index_j1_trans">
    <type>transmission_interface/SimpleTransmission</type>
    <joint name="r2/right_arm/hand/index/joint1"/>
    <actuator name="r2/right_arm/hand/index_j1_motor">
      <hardwareInterface>EffortJointInterface</hardwareInterface>
      <mechanicalReduction>100</mechanicalReduction>
    </actuator>
    <motorTorqueConstant>0.01</motorTorqueConstant>
  </transmission>
  <transmission name="r2/right_arm/hand/index_j2_trans">
    <type>transmission_interface/SimpleTransmission</type>
    <joint name="r2/right_arm/hand/index/joint2"/>
    <actuator name="r2/right_arm/hand/index_j2_motor">
      <hardwareInterface>EffortJointInterface</hardwareInterface>
      <mechanicalReduction>100</mechanicalReduction>
    </actuator>
    <motorTorqueConstant>0.01</motorTorqueConstant>
  </transmission>
  <transmission name="r2/right_arm/hand/index_j3_trans">
    <type>transmission_interface/SimpleTransmission</type>
    <joint name="r2/right_arm/hand/index/joint3"/>
    <actuator name="r2/right_arm/hand/index_j3_motor">
      <hardwareInterface>EffortJointInterface</hardwareInterface>
      <mechanicalReduction>100</mechanicalReduction>
    </actuator>
    <motorTorqueConstant>0.01</motorTorqueConstant>
  </transmission>
  <transmission name="r2/right_arm/hand/middle_j0_trans">
    <type>transmission_interface/SimpleTransmission</type>
    <joint name="r2/right_arm/hand/middle/joint0"/>
    <actuator name="r2/right_arm/hand/middle_j0_motor">
      <hardwareInterface>EffortJointInterface</hardwareInterface>
      <mechanicalReduction>100</mechanicalReduction>
    </actuator>
    <motorTorqueConstant>0.01</motorTorqueConstant>
  </transmission>
  <transmission name="r2/right_arm/hand/middle_j1_trans">
    <type>transmission_interface/SimpleTransmission</type>
    <joint name="r2/right_arm/hand/middle/joint1"/>
    <actuator name="r2/right_arm/hand/middle_j1_motor">
      <hardwareInterface>EffortJointInterface</hardwareInterface>
      <mechanicalReduction>100</mechanicalReduction>
    </actuator>
    <motorTorqueConstant>0.01</motorTorqueConstant>
  </transmission>
  <transmission name="r2/right_arm/hand/middle_j2_trans">
    <type>transmission_interface/SimpleTransmission</type>
    <joint name="r2/right_arm/hand/middle/joint2"/>
    <actuator name="r2/right_arm/hand/middle_j2_motor">
      <hardwareInterface>EffortJointInterface</hardwareInterface>
      <mechanicalReduction>100</mechanicalReduction>
    </actuator>
    <motorTorqueConstant>0.01</motorTorqueConstant>
  </transmission>
  <transmission name="r2/right_arm/hand/middle_j3_trans">
    <type>transmission_interface/SimpleTransmission</type>
    <joint name="r2/right_arm/hand/middle/joint3"/>
    <actuator name="r2/right_arm/hand/middle_j3_motor">
      <hardwareInterface>EffortJointInterface</hardwareInterface>
      <mechanicalReduction>100</mechanicalReduction>
    </actuator>
    <motorTorqueConstant>0.01</motorTorqueConstant>
  </transmission>
  <transmission name="r2/right_arm/hand/ring_j0_trans">
    <type>transmission_interface/SimpleTransmission</type>
    <joint name="r2/right_arm/hand/ring/joint0"/>
    <actuator name="r2/right_arm/hand/ring_j0_motor">
      <hardwareInterface>EffortJointInterface</hardwareInterface>
      <mechanicalReduction>100</mechanicalReduction>
    </actuator>
    <motorTorqueConstant>0.01</motorTorqueConstant>
  </transmission>
  <transmission name="r2/right_arm/hand/ring_j1_trans">
    <type>transmission_interface/SimpleTransmission</type>
    <joint name="r2/right_arm/hand/ring/joint1"/>
    <actuator name="r2/right_arm/hand/ring_j1_motor">
      <hardwareInterface>EffortJointInterface</hardwareInterface>
      <mechanicalReduction>100</mechanicalReduction>
    </actuator>
    <motorTorqueConstant>0.01</motorTorqueConstant>
  </transmission>
  <transmission name="r2/right_arm/hand/ring_j2_trans">
    <type>transmission_interface/SimpleTransmission</type>
    <joint name="r2/right_arm/hand/ring/joint2"/>
    <actuator name="r2/right_arm/hand/ring_j2_motor">
      <hardwareInterface>EffortJointInterface</hardwareInterface>
      <mechanicalReduction>100</mechanicalReduction>
    </actuator>
    <motorTorqueConstant>0.01</motorTorqueConstant>
  </transmission>
  <transmission name="r2/right_arm/hand/little_j0_trans">
    <type>transmission_interface/SimpleTransmission</type>
    <joint name="r2/right_arm/hand/little/joint0"/>
    <actuator name="r2/right_arm/hand/little_j0_motor">
      <hardwareInterface>EffortJointInterface</hardwareInterface>
      <mechanicalReduction>100</mechanicalReduction>
    </actuator>
    <motorTorqueConstant>0.01</motorTorqueConstant>
  </transmission>
  <transmission name="r2/right_arm/hand/little_j1_trans">
    <type>transmission_interface/SimpleTransmission</type>
    <joint name="r2/right_arm/hand/little/joint1"/>
    <actuator name="r2/right_arm/hand/little_j1_motor">
      <hardwareInterface>EffortJointInterface</hardwareInterface>
      <mechanicalReduction>100</mechanicalReduction>
    </actuator>
    <motorTorqueConstant>0.01</motorTorqueConstant>
  </transmission>
  <transmission name="r2/right_arm/hand/little_j2_trans">
    <type>transmission_interface/SimpleTransmission</type>
    <joint name="r2/right_arm/hand/little/joint2"/>
    <actuator name="r2/right_arm/hand/little_j2_motor">
      <hardwareInterface>EffortJointInterface</hardwareInterface>
      <mechanicalReduction>100</mechanicalReduction>
    </actuator>
    <motorTorqueConstant>0.01</motorTorqueConstant>
  </transmission>
  <transmission name="r2/neck_j0_trans">
    <type>transmission_interface/SimpleTransmission</type>
    <joint name="r2/neck/joint0"/>
    <actuator name="r2/neck_j0_motor">
      <hardwareInterface>EffortJointInterface</hardwareInterface>
      <mechanicalReduction>100</mechanicalReduction>
    </actuator>
    <motorTorqueConstant>0.01</motorTorqueConstant>
  </transmission>
  <transmission name="r2/neck_j1_trans">
    <type>transmission_interface/SimpleTransmission</type>
    <joint name="r2/neck/joint1"/>
    <actuator name="r2/neck_j1_motor">
      <hardwareInterface>EffortJointInterface</hardwareInterface>
      <mechanicalReduction>100</mechanicalReduction>
    </actuator>
    <motorTorqueConstant>0.01</motorTorqueConstant>
  </transmission>
  <transmission name="r2/neck_j2_trans">
    <type>transmission_interface/SimpleTransmission</type>
    <joint name="r2/neck/joint2"/>
    <actuator name="r2/neck_j2_motor">
      <hardwareInterface>EffortJointInterface</hardwareInterface>
      <mechanicalReduction>100</mechanicalReduction>
    </actuator>
    <motorTorqueConstant>0.01</motorTorqueConstant>
  </transmission>
  <gazebo>
    <plugin filename="libgazebo_ros_control.so" name="gazebo_ros_control">
      <robotNamespace>r2</robotNamespace>
      <robotSimType>gazebo_ros_control/DefaultRobotHWSim</robotSimType>
    </plugin>
  </gazebo>
</robot>
